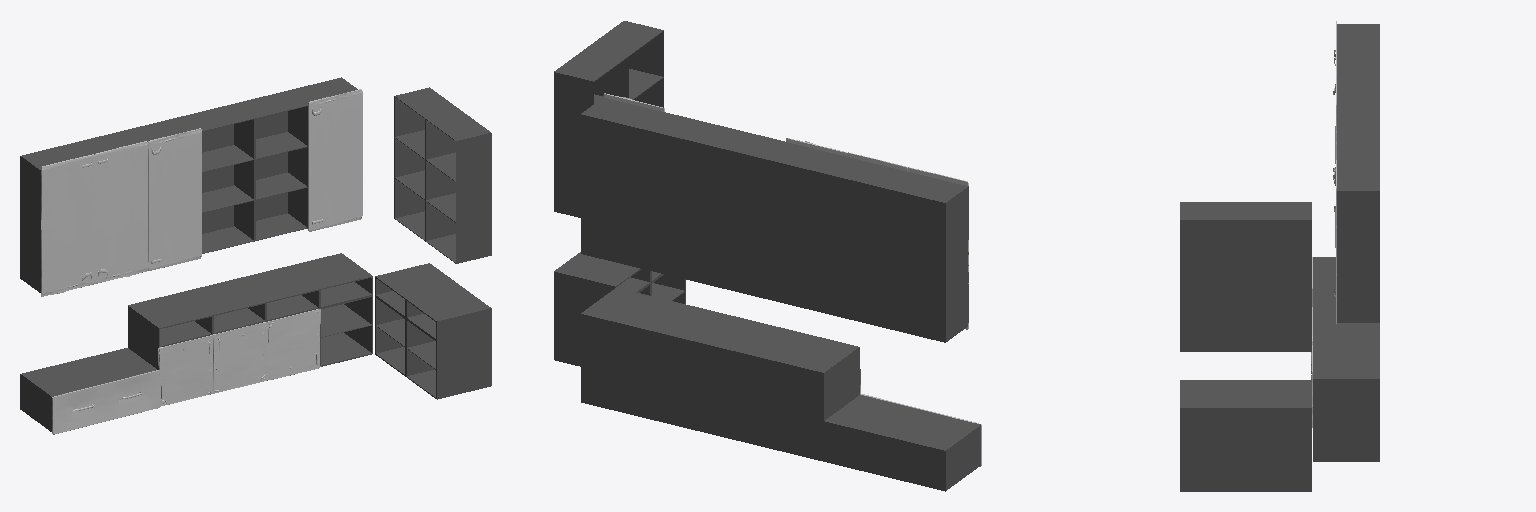
--- Facts derived from the render (not from the file) ---
The picture shows the robot from 3 angles, left to right: view 1: azimuth 30°, elevation 25°; view 2: azimuth 150°, elevation 25°; view 3: azimuth 270°, elevation 25°; orthographic projection.
Model Scene with 64 links and 63 joints (14 revolute, 7 prismatic, 42 fixed), rooted at world, posed every joint at zero.
Visible links, largest first — view 1: upper_left_cabinet_1.003_0.958_0.65_3_corpus, upper_right_cabinet_1.003_0.958_0.65_0_corpus, upper_left_cabinet_1.003_0.958_0.65_1_corpus, upper_left_cabinet_1.003_0.958_0.65_0_door_0_0, upper_right_cabinet_1.003_0.958_0.65_2_door_0_0, upper_right_cabinet_1.003_0.958_0.65_1_door_0_0, upper_left_cabinet_1.003_0.958_0.65_2_door_0_0, lower_left_cabinet_1.003_0.958_0.998_2_corpus, upper_right_cabinet_1.003_0.958_0.65_3_corpus, double_drawer_0.611_1.916_0.998_corpus, double_drawer_0.611_1.916_0.998_drawer_0_0, upper_right_cabinet_1.003_0.958_0.65_2_corpus (+15 smaller); view 2: upper_right_cabinet_1.003_0.958_0.65_2_corpus, double_drawer_0.611_1.916_0.998_corpus, upper_left_cabinet_1.003_0.958_0.65_1_corpus, upper_right_cabinet_1.003_0.958_0.65_0_corpus, upper_left_cabinet_1.003_0.958_0.65_2_corpus, upper_right_cabinet_1.003_0.958_0.65_1_corpus, upper_left_cabinet_1.003_0.958_0.65_0_corpus, upper_right_cabinet_1.003_0.958_0.65_3_corpus, lower_right_cabinet_1.003_0.958_0.998_0_corpus, drawer_0.333_0.958_0.998_0_corpus, lower_right_cabinet_1.003_0.958_0.998_1_corpus, lower_left_cabinet_1.003_0.958_0.998_0_corpus (+8 smaller); view 3: upper_left_cabinet_1.003_0.958_0.65_3_corpus, upper_right_cabinet_1.003_0.958_0.65_3_corpus, upper_left_cabinet_1.003_0.958_0.65_0_corpus, lower_left_cabinet_1.003_0.958_0.998_2_corpus, lower_right_cabinet_1.003_0.958_0.998_2_corpus, lower_left_cabinet_1.003_0.958_0.998_1_corpus, drawer_0.333_0.958_0.998_3_corpus, drawer_0.333_0.958_0.998_4_corpus, drawer_0.333_0.958_0.998_5_corpus, drawer_0.333_0.958_0.998_2_corpus, upper_left_cabinet_1.003_0.958_0.65_1_corpus, upper_right_cabinet_1.003_0.958_0.65_1_corpus (+5 smaller).
Link boxes in pixels (left/top/right/bottom): upper_left_cabinet_1.003_0.958_0.65_3_corpus: left=425, top=110, right=491, bottom=263; upper_right_cabinet_1.003_0.958_0.65_0_corpus: left=235, top=91, right=307, bottom=240; upper_left_cabinet_1.003_0.958_0.65_1_corpus: left=181, top=104, right=254, bottom=253; upper_left_cabinet_1.003_0.958_0.65_0_door_0_0: left=308, top=89, right=362, bottom=231; upper_right_cabinet_1.003_0.958_0.65_2_door_0_0: left=41, top=154, right=94, bottom=296; upper_right_cabinet_1.003_0.958_0.65_1_door_0_0: left=148, top=128, right=201, bottom=270; upper_left_cabinet_1.003_0.958_0.65_2_door_0_0: left=94, top=141, right=148, bottom=283; lower_left_cabinet_1.003_0.958_0.998_2_corpus: left=406, top=319, right=491, bottom=399; upper_right_cabinet_1.003_0.958_0.65_3_corpus: left=394, top=87, right=459, bottom=240; double_drawer_0.611_1.916_0.998_corpus: left=20, top=348, right=156, bottom=431; double_drawer_0.611_1.916_0.998_drawer_0_0: left=32, top=370, right=159, bottom=434; upper_right_cabinet_1.003_0.958_0.65_2_corpus: left=20, top=143, right=89, bottom=292; upper_right_cabinet_1.003_0.958_0.65_2_corpus: left=885, top=172, right=968, bottom=342; double_drawer_0.611_1.916_0.998_corpus: left=824, top=395, right=980, bottom=491; upper_left_cabinet_1.003_0.958_0.65_1_corpus: left=702, top=127, right=784, bottom=297; upper_right_cabinet_1.003_0.958_0.65_0_corpus: left=641, top=112, right=724, bottom=282; upper_left_cabinet_1.003_0.958_0.65_2_corpus: left=824, top=157, right=906, bottom=327; upper_right_cabinet_1.003_0.958_0.65_1_corpus: left=763, top=142, right=845, bottom=312; upper_left_cabinet_1.003_0.958_0.65_0_corpus: left=581, top=97, right=663, bottom=268; upper_right_cabinet_1.003_0.958_0.65_3_corpus: left=554, top=46, right=628, bottom=217; lower_right_cabinet_1.003_0.958_0.998_0_corpus: left=763, top=369, right=859, bottom=461; drawer_0.333_0.958_0.998_0_corpus: left=763, top=332, right=859, bottom=394; lower_right_cabinet_1.003_0.958_0.998_1_corpus: left=641, top=351, right=701, bottom=431; lower_left_cabinet_1.003_0.958_0.998_0_corpus: left=702, top=366, right=762, bottom=446; upper_left_cabinet_1.003_0.958_0.65_3_corpus: left=1180, top=202, right=1245, bottom=351; upper_right_cabinet_1.003_0.958_0.65_3_corpus: left=1246, top=202, right=1311, bottom=351; upper_left_cabinet_1.003_0.958_0.65_0_corpus: left=1337, top=163, right=1379, bottom=322; lower_left_cabinet_1.003_0.958_0.998_2_corpus: left=1180, top=429, right=1245, bottom=491; lower_right_cabinet_1.003_0.958_0.998_2_corpus: left=1246, top=429, right=1311, bottom=491; lower_left_cabinet_1.003_0.958_0.998_1_corpus: left=1313, top=400, right=1379, bottom=461; drawer_0.333_0.958_0.998_3_corpus: left=1313, top=351, right=1379, bottom=399; drawer_0.333_0.958_0.998_4_corpus: left=1246, top=380, right=1311, bottom=428; drawer_0.333_0.958_0.998_5_corpus: left=1180, top=380, right=1245, bottom=428; drawer_0.333_0.958_0.998_2_corpus: left=1313, top=323, right=1379, bottom=350; upper_left_cabinet_1.003_0.958_0.65_1_corpus: left=1337, top=108, right=1379, bottom=135; upper_right_cabinet_1.003_0.958_0.65_1_corpus: left=1337, top=80, right=1379, bottom=107.
Bounding box of the posed robot: 6.75 × 2.91 × 4.53 m (x, y, z).
Meshes: 21 distinct files referenced, 8 mesh visuals loaded (8 OBJ); not drawn: 13 (reference not matched to a file when rendering).

robot.urdf — Scene:
<?xml version='1.0' encoding='ASCII'?>
<robot name="Scene">
  <link name="drawer_0.333_0.958_0.998_0_corpus">
    <inertial>
      <origin xyz="0.0 0.0 0.0" rpy="0.0 -0.0 0.0" />
      <mass value="0.054318599999999995" />
      <inertia ixx="1.0" ixy="0.0" ixz="0.0" iyy="1.0" iyz="0.0" izz="1.0" />
    </inertial>
    <visual name="drawer_0.333_0.958_0.998_0_back">
      <geometry>
        <box size="0.958 0.02 0.313" />
      </geometry>
      <origin xyz="0.0 0.489 0.1565" rpy="0.0 -0.0 0.0" />
      <material name="drawer_0.333_0.958_0.998_0_back_main_color">
        <color rgba="0.4 0.4 0.4 1.0" />
      </material>
    </visual>
    <visual name="drawer_0.333_0.958_0.998_0_left">
      <geometry>
        <box size="0.02 0.958 0.313" />
      </geometry>
      <origin xyz="-0.469 0.0 0.1565" rpy="0.0 -0.0 0.0" />
      <material name="drawer_0.333_0.958_0.998_0_left_main_color">
        <color rgba="0.4 0.4 0.4 1.0" />
      </material>
    </visual>
    <visual name="drawer_0.333_0.958_0.998_0_right">
      <geometry>
        <box size="0.02 0.958 0.313" />
      </geometry>
      <origin xyz="0.469 0.0 0.1565" rpy="0.0 -0.0 0.0" />
      <material name="drawer_0.333_0.958_0.998_0_right_main_color">
        <color rgba="0.4 0.4 0.4 1.0" />
      </material>
    </visual>
    <visual name="drawer_0.333_0.958_0.998_0_surface_0_0">
      <geometry>
        <box size="0.9179999999999999 0.958 0.02" />
      </geometry>
      <origin xyz="0.0 0.0 0.009999999999999962" rpy="0.0 -0.0 0.0" />
      <material name="drawer_0.333_0.958_0.998_0_surface_0_0_main_color">
        <color rgba="0.4 0.4 0.4 1.0" />
      </material>
    </visual>
    <visual name="drawer_0.333_0.958_0.998_0_top">
      <geometry>
        <box size="0.958 0.978 0.02" />
      </geometry>
      <origin xyz="0.0 0.01 0.323" rpy="0.0 -0.0 0.0" />
      <material name="drawer_0.333_0.958_0.998_0_top_main_color">
        <color rgba="0.4 0.4 0.4 1.0" />
      </material>
    </visual>
    <collision name="drawer_0.333_0.958_0.998_0_back">
      <geometry>
        <box size="0.958 0.02 0.313" />
      </geometry>
      <origin xyz="0.0 0.489 0.1565" rpy="0.0 -0.0 0.0" />
    </collision>
    <collision name="drawer_0.333_0.958_0.998_0_left">
      <geometry>
        <box size="0.02 0.958 0.313" />
      </geometry>
      <origin xyz="-0.469 0.0 0.1565" rpy="0.0 -0.0 0.0" />
    </collision>
    <collision name="drawer_0.333_0.958_0.998_0_right">
      <geometry>
        <box size="0.02 0.958 0.313" />
      </geometry>
      <origin xyz="0.469 0.0 0.1565" rpy="0.0 -0.0 0.0" />
    </collision>
    <collision name="drawer_0.333_0.958_0.998_0_surface_0_0">
      <geometry>
        <box size="0.9179999999999999 0.958 0.02" />
      </geometry>
      <origin xyz="0.0 0.0 0.009999999999999962" rpy="0.0 -0.0 0.0" />
    </collision>
    <collision name="drawer_0.333_0.958_0.998_0_top">
      <geometry>
        <box size="0.958 0.978 0.02" />
      </geometry>
      <origin xyz="0.0 0.01 0.323" rpy="0.0 -0.0 0.0" />
    </collision>
  </link>
  <link name="drawer_0.333_0.958_0.998_0_drawer_0_0">
    <inertial>
      <origin xyz="0.0 0.0 0.0" rpy="0.0 -0.0 0.0" />
      <mass value="0.1" />
      <inertia ixx="1.0" ixy="0.0" ixz="0.0" iyy="1.0" iyz="0.0" izz="1.0" />
    </inertial>
    <visual><geometry><mesh filename="full_pipeline_simple/drawer_0.333_0.958_0.998_0.obj" /></geometry><material name="drawer_0.333_0.958_0.998_0_drawer_0_0_material"><color rgba="0.8 0.8 0.8 1.0" /></material></visual><collision><geometry><box size="0.954000 0.990300 0.329000" /></geometry><origin xyz="0.000000 0.365050 0.000000" rpy="0 0 0" /></collision></link>
  <link name="drawer_0.333_0.958_0.998_1_corpus">
    <inertial>
      <origin xyz="0.0 0.0 0.0" rpy="0.0 -0.0 0.0" />
      <mass value="0.054318599999999995" />
      <inertia ixx="1.0" ixy="0.0" ixz="0.0" iyy="1.0" iyz="0.0" izz="1.0" />
    </inertial>
    <visual name="drawer_0.333_0.958_0.998_1_back">
      <geometry>
        <box size="0.958 0.02 0.313" />
      </geometry>
      <origin xyz="0.0 0.489 0.1565" rpy="0.0 -0.0 0.0" />
      <material name="drawer_0.333_0.958_0.998_1_back_main_color">
        <color rgba="0.4 0.4 0.4 1.0" />
      </material>
    </visual>
    <visual name="drawer_0.333_0.958_0.998_1_left">
      <geometry>
        <box size="0.02 0.958 0.313" />
      </geometry>
      <origin xyz="-0.469 0.0 0.1565" rpy="0.0 -0.0 0.0" />
      <material name="drawer_0.333_0.958_0.998_1_left_main_color">
        <color rgba="0.4 0.4 0.4 1.0" />
      </material>
    </visual>
    <visual name="drawer_0.333_0.958_0.998_1_right">
      <geometry>
        <box size="0.02 0.958 0.313" />
      </geometry>
      <origin xyz="0.469 0.0 0.1565" rpy="0.0 -0.0 0.0" />
      <material name="drawer_0.333_0.958_0.998_1_right_main_color">
        <color rgba="0.4 0.4 0.4 1.0" />
      </material>
    </visual>
    <visual name="drawer_0.333_0.958_0.998_1_surface_0_0">
      <geometry>
        <box size="0.9179999999999999 0.958 0.02" />
      </geometry>
      <origin xyz="0.0 0.0 0.009999999999999962" rpy="0.0 -0.0 0.0" />
      <material name="drawer_0.333_0.958_0.998_1_surface_0_0_main_color">
        <color rgba="0.4 0.4 0.4 1.0" />
      </material>
    </visual>
    <visual name="drawer_0.333_0.958_0.998_1_top">
      <geometry>
        <box size="0.958 0.978 0.02" />
      </geometry>
      <origin xyz="0.0 0.01 0.323" rpy="0.0 -0.0 0.0" />
      <material name="drawer_0.333_0.958_0.998_1_top_main_color">
        <color rgba="0.4 0.4 0.4 1.0" />
      </material>
    </visual>
    <collision name="drawer_0.333_0.958_0.998_1_back">
      <geometry>
        <box size="0.958 0.02 0.313" />
      </geometry>
      <origin xyz="0.0 0.489 0.1565" rpy="0.0 -0.0 0.0" />
    </collision>
    <collision name="drawer_0.333_0.958_0.998_1_left">
      <geometry>
        <box size="0.02 0.958 0.313" />
      </geometry>
      <origin xyz="-0.469 0.0 0.1565" rpy="0.0 -0.0 0.0" />
    </collision>
    <collision name="drawer_0.333_0.958_0.998_1_right">
      <geometry>
        <box size="0.02 0.958 0.313" />
      </geometry>
      <origin xyz="0.469 0.0 0.1565" rpy="0.0 -0.0 0.0" />
    </collision>
    <collision name="drawer_0.333_0.958_0.998_1_surface_0_0">
      <geometry>
        <box size="0.9179999999999999 0.958 0.02" />
      </geometry>
      <origin xyz="0.0 0.0 0.009999999999999962" rpy="0.0 -0.0 0.0" />
    </collision>
    <collision name="drawer_0.333_0.958_0.998_1_top">
      <geometry>
        <box size="0.958 0.978 0.02" />
      </geometry>
      <origin xyz="0.0 0.01 0.323" rpy="0.0 -0.0 0.0" />
    </collision>
  </link>
  <link name="drawer_0.333_0.958_0.998_1_drawer_0_0">
    <inertial>
      <origin xyz="0.0 0.0 0.0" rpy="0.0 -0.0 0.0" />
      <mass value="0.1" />
      <inertia ixx="1.0" ixy="0.0" ixz="0.0" iyy="1.0" iyz="0.0" izz="1.0" />
    </inertial>
    <visual><geometry><mesh filename="full_pipeline_simple/drawer_0.333_0.958_0.998_1.obj" /></geometry><material name="drawer_0.333_0.958_0.998_1_drawer_0_0_material"><color rgba="0.8 0.8 0.8 1.0" /></material></visual><collision><geometry><box size="0.954000 0.990300 0.329000" /></geometry><origin xyz="0.000000 0.365050 0.000000" rpy="0 0 0" /></collision></link>
  <link name="lower_left_cabinet_1.003_0.958_0.998_0_corpus">
    <inertial>
      <origin xyz="0.0 0.0 0.0" rpy="0.0 -0.0 0.0" />
      <mass value="0.10162463999999999" />
      <inertia ixx="1.0" ixy="0.0" ixz="0.0" iyy="1.0" iyz="0.0" izz="1.0" />
    </inertial>
    <visual name="lower_left_cabinet_1.003_0.958_0.998_0_back">
      <geometry>
        <box size="0.958 0.02 0.9829999999999999" />
      </geometry>
      <origin xyz="0.0 0.489 0.49149999999999994" rpy="0.0 -0.0 0.0" />
      <material name="lower_left_cabinet_1.003_0.958_0.998_0_back_main_color">
        <color rgba="0.4 0.4 0.4 1.0" />
      </material>
    </visual>
    <visual name="lower_left_cabinet_1.003_0.958_0.998_0_left">
      <geometry>
        <box size="0.02 0.958 0.9829999999999999" />
      </geometry>
      <origin xyz="-0.469 0.0 0.49149999999999994" rpy="0.0 -0.0 0.0" />
      <material name="lower_left_cabinet_1.003_0.958_0.998_0_left_main_color">
        <color rgba="0.4 0.4 0.4 1.0" />
      </material>
    </visual>
    <visual name="lower_left_cabinet_1.003_0.958_0.998_0_right">
      <geometry>
        <box size="0.02 0.958 0.9829999999999999" />
      </geometry>
      <origin xyz="0.469 0.0 0.49149999999999994" rpy="0.0 -0.0 0.0" />
      <material name="lower_left_cabinet_1.003_0.958_0.998_0_right_main_color">
        <color rgba="0.4 0.4 0.4 1.0" />
      </material>
    </visual>
    <visual name="lower_left_cabinet_1.003_0.958_0.998_0_shelf_0_0_0">
      <geometry>
        <box size="0.9179999999999999 0.958 0.01" />
      </geometry>
      <origin xyz="0.0 0.0 0.5015" rpy="0.0 -0.0 0.0" />
      <material name="lower_left_cabinet_1.003_0.958_0.998_0_shelf_0_0_0_main_color">
        <color rgba="0.4 0.4 0.4 1.0" />
      </material>
    </visual>
    <visual name="lower_left_cabinet_1.003_0.958_0.998_0_surface_0_0">
      <geometry>
        <box size="0.9179999999999999 0.958 0.02" />
      </geometry>
      <origin xyz="0.0 0.0 0.010000000000000018" rpy="0.0 -0.0 0.0" />
      <material name="lower_left_cabinet_1.003_0.958_0.998_0_surface_0_0_main_color">
        <color rgba="0.4 0.4 0.4 1.0" />
      </material>
    </visual>
    <visual name="lower_left_cabinet_1.003_0.958_0.998_0_top">
      <geometry>
        <box size="0.958 0.978 0.02" />
      </geometry>
      <origin xyz="0.0 0.01 0.9929999999999999" rpy="0.0 -0.0 0.0" />
      <material name="lower_left_cabinet_1.003_0.958_0.998_0_top_main_color">
        <color rgba="0.4 0.4 0.4 1.0" />
      </material>
    </visual>
    <collision name="lower_left_cabinet_1.003_0.958_0.998_0_back">
      <geometry>
        <box size="0.958 0.02 0.9829999999999999" />
      </geometry>
      <origin xyz="0.0 0.489 0.49149999999999994" rpy="0.0 -0.0 0.0" />
    </collision>
    <collision name="lower_left_cabinet_1.003_0.958_0.998_0_left">
      <geometry>
        <box size="0.02 0.958 0.9829999999999999" />
      </geometry>
      <origin xyz="-0.469 0.0 0.49149999999999994" rpy="0.0 -0.0 0.0" />
    </collision>
    <collision name="lower_left_cabinet_1.003_0.958_0.998_0_right">
      <geometry>
        <box size="0.02 0.958 0.9829999999999999" />
      </geometry>
      <origin xyz="0.469 0.0 0.49149999999999994" rpy="0.0 -0.0 0.0" />
    </collision>
    <collision name="lower_left_cabinet_1.003_0.958_0.998_0_shelf_0_0_0">
      <geometry>
        <box size="0.9179999999999999 0.958 0.01" />
      </geometry>
      <origin xyz="0.0 0.0 0.5015" rpy="0.0 -0.0 0.0" />
    </collision>
    <collision name="lower_left_cabinet_1.003_0.958_0.998_0_surface_0_0">
      <geometry>
        <box size="0.9179999999999999 0.958 0.02" />
      </geometry>
      <origin xyz="0.0 0.0 0.010000000000000018" rpy="0.0 -0.0 0.0" />
    </collision>
    <collision name="lower_left_cabinet_1.003_0.958_0.998_0_top">
      <geometry>
        <box size="0.958 0.978 0.02" />
      </geometry>
      <origin xyz="0.0 0.01 0.9929999999999999" rpy="0.0 -0.0 0.0" />
    </collision>
  </link>
  <link name="lower_left_cabinet_1.003_0.958_0.998_0_door_0_0">
    <inertial>
      <origin xyz="0.0 0.0 0.0" rpy="0.0 -0.0 0.0" />
      <mass value="0.1" />
      <inertia ixx="1.0" ixy="0.0" ixz="0.0" iyy="1.0" iyz="0.0" izz="1.0" />
    </inertial>
    <visual><geometry><mesh filename="full_pipeline_simple/lower_left_cabinet_1.003_0.958_0.998_0.obj" /></geometry><material name="lower_left_cabinet_1.003_0.958_0.998_0_door_0_0_material"><color rgba="0.8 0.8 0.8 1.0" /></material></visual><collision><geometry><box size="0.954000 0.168200 0.999000" /></geometry><origin xyz="-0.477000 -0.026000 0.000000" rpy="0 0 0" /></collision></link>
  <link name="lower_right_cabinet_1.003_0.958_0.998_0_corpus">
    <inertial>
      <origin xyz="0.0 0.0 0.0" rpy="0.0 -0.0 0.0" />
      <mass value="0.10162463999999999" />
      <inertia ixx="1.0" ixy="0.0" ixz="0.0" iyy="1.0" iyz="0.0" izz="1.0" />
    </inertial>
    <visual name="lower_right_cabinet_1.003_0.958_0.998_0_back">
      <geometry>
        <box size="0.958 0.02 0.9829999999999999" />
      </geometry>
      <origin xyz="0.0 0.489 0.49149999999999994" rpy="0.0 -0.0 0.0" />
      <material name="lower_right_cabinet_1.003_0.958_0.998_0_back_main_color">
        <color rgba="0.4 0.4 0.4 1.0" />
      </material>
    </visual>
    <visual name="lower_right_cabinet_1.003_0.958_0.998_0_left">
      <geometry>
        <box size="0.02 0.958 0.9829999999999999" />
      </geometry>
      <origin xyz="-0.469 0.0 0.49149999999999994" rpy="0.0 -0.0 0.0" />
      <material name="lower_right_cabinet_1.003_0.958_0.998_0_left_main_color">
        <color rgba="0.4 0.4 0.4 1.0" />
      </material>
    </visual>
    <visual name="lower_right_cabinet_1.003_0.958_0.998_0_right">
      <geometry>
        <box size="0.02 0.958 0.9829999999999999" />
      </geometry>
      <origin xyz="0.469 0.0 0.49149999999999994" rpy="0.0 -0.0 0.0" />
      <material name="lower_right_cabinet_1.003_0.958_0.998_0_right_main_color">
        <color rgba="0.4 0.4 0.4 1.0" />
      </material>
    </visual>
    <visual name="lower_right_cabinet_1.003_0.958_0.998_0_shelf_0_0_0">
      <geometry>
        <box size="0.9179999999999999 0.958 0.01" />
      </geometry>
      <origin xyz="0.0 0.0 0.5015" rpy="0.0 -0.0 0.0" />
      <material name="lower_right_cabinet_1.003_0.958_0.998_0_shelf_0_0_0_main_color">
        <color rgba="0.4 0.4 0.4 1.0" />
      </material>
    </visual>
    <visual name="lower_right_cabinet_1.003_0.958_0.998_0_surface_0_0">
      <geometry>
        <box size="0.9179999999999999 0.958 0.02" />
      </geometry>
      <origin xyz="0.0 0.0 0.010000000000000018" rpy="0.0 -0.0 0.0" />
      <material name="lower_right_cabinet_1.003_0.958_0.998_0_surface_0_0_main_color">
        <color rgba="0.4 0.4 0.4 1.0" />
      </material>
    </visual>
    <visual name="lower_right_cabinet_1.003_0.958_0.998_0_top">
      <geometry>
        <box size="0.958 0.978 0.02" />
      </geometry>
      <origin xyz="0.0 0.01 0.9929999999999999" rpy="0.0 -0.0 0.0" />
      <material name="lower_right_cabinet_1.003_0.958_0.998_0_top_main_color">
        <color rgba="0.4 0.4 0.4 1.0" />
      </material>
    </visual>
    <collision name="lower_right_cabinet_1.003_0.958_0.998_0_back">
      <geometry>
        <box size="0.958 0.02 0.9829999999999999" />
      </geometry>
      <origin xyz="0.0 0.489 0.49149999999999994" rpy="0.0 -0.0 0.0" />
    </collision>
    <collision name="lower_right_cabinet_1.003_0.958_0.998_0_left">
      <geometry>
        <box size="0.02 0.958 0.9829999999999999" />
      </geometry>
      <origin xyz="-0.469 0.0 0.49149999999999994" rpy="0.0 -0.0 0.0" />
    </collision>
    <collision name="lower_right_cabinet_1.003_0.958_0.998_0_right">
      <geometry>
        <box size="0.02 0.958 0.9829999999999999" />
      </geometry>
      <origin xyz="0.469 0.0 0.49149999999999994" rpy="0.0 -0.0 0.0" />
    </collision>
    <collision name="lower_right_cabinet_1.003_0.958_0.998_0_shelf_0_0_0">
      <geometry>
        <box size="0.9179999999999999 0.958 0.01" />
      </geometry>
      <origin xyz="0.0 0.0 0.5015" rpy="0.0 -0.0 0.0" />
    </collision>
    <collision name="lower_right_cabinet_1.003_0.958_0.998_0_surface_0_0">
      <geometry>
        <box size="0.9179999999999999 0.958 0.02" />
      </geometry>
      <origin xyz="0.0 0.0 0.010000000000000018" rpy="0.0 -0.0 0.0" />
    </collision>
    <collision name="lower_right_cabinet_1.003_0.958_0.998_0_top">
      <geometry>
        <box size="0.958 0.978 0.02" />
      </geometry>
      <origin xyz="0.0 0.01 0.9929999999999999" rpy="0.0 -0.0 0.0" />
    </collision>
  </link>
  <link name="lower_right_cabinet_1.003_0.958_0.998_0_door_0_0">
    <inertial>
      <origin xyz="0.0 0.0 0.0" rpy="0.0 -0.0 0.0" />
      <mass value="0.1" />
      <inertia ixx="1.0" ixy="0.0" ixz="0.0" iyy="1.0" iyz="0.0" izz="1.0" />
    </inertial>
    <visual><geometry><mesh filename="full_pipeline_simple/lower_right_cabinet_1.003_0.958_0.998_0.obj" /></geometry><material name="lower_right_cabinet_1.003_0.958_0.998_0_door_0_0_material"><color rgba="0.8 0.8 0.8 1.0" /></material></visual><collision><geometry><box size="0.954000 0.168200 0.999000" /></geometry><origin xyz="0.477000 -0.026000 0.000000" rpy="0 0 0" /></collision></link>
  <link name="drawer_0.333_0.958_0.998_2_corpus">
    <inertial>
      <origin xyz="0.0 0.0 0.0" rpy="0.0 -0.0 0.0" />
      <mass value="0.054318599999999995" />
      <inertia ixx="1.0" ixy="0.0" ixz="0.0" iyy="1.0" iyz="0.0" izz="1.0" />
    </inertial>
    <visual name="drawer_0.333_0.958_0.998_2_back">
      <geometry>
        <box size="0.958 0.02 0.313" />
      </geometry>
      <origin xyz="0.0 0.489 0.1565" rpy="0.0 -0.0 0.0" />
      <material name="drawer_0.333_0.958_0.998_2_back_main_color">
        <color rgba="0.4 0.4 0.4 1.0" />
      </material>
    </visual>
    <visual name="drawer_0.333_0.958_0.998_2_left">
      <geometry>
        <box size="0.02 0.958 0.313" />
      </geometry>
      <origin xyz="-0.469 0.0 0.1565" rpy="0.0 -0.0 0.0" />
      <material name="drawer_0.333_0.958_0.998_2_left_main_color">
        <color rgba="0.4 0.4 0.4 1.0" />
      </material>
    </visual>
    <visual name="drawer_0.333_0.958_0.998_2_right">
      <geometry>
        <box size="0.02 0.958 0.313" />
      </geometry>
      <origin xyz="0.469 0.0 0.1565" rpy="0.0 -0.0 0.0" />
      <material name="drawer_0.333_0.958_0.998_2_right_main_color">
        <color rgba="0.4 0.4 0.4 1.0" />
      </material>
    </visual>
    <visual name="drawer_0.333_0.958_0.998_2_surface_0_0">
      <geometry>
        <box size="0.9179999999999999 0.958 0.02" />
      </geometry>
      <origin xyz="0.0 0.0 0.009999999999999962" rpy="0.0 -0.0 0.0" />
      <material name="drawer_0.333_0.958_0.998_2_surface_0_0_main_color">
        <color rgba="0.4 0.4 0.4 1.0" />
      </material>
    </visual>
    <visual name="drawer_0.333_0.958_0.998_2_top">
      <geometry>
        <box size="0.958 0.978 0.02" />
      </geometry>
      <origin xyz="0.0 0.01 0.323" rpy="0.0 -0.0 0.0" />
      <material name="drawer_0.333_0.958_0.998_2_top_main_color">
        <color rgba="0.4 0.4 0.4 1.0" />
      </material>
    </visual>
    <collision name="drawer_0.333_0.958_0.998_2_back">
      <geometry>
        <box size="0.958 0.02 0.313" />
      </geometry>
      <origin xyz="0.0 0.489 0.1565" rpy="0.0 -0.0 0.0" />
    </collision>
    <collision name="drawer_0.333_0.958_0.998_2_left">
      <geometry>
        <box size="0.02 0.958 0.313" />
      </geometry>
      <origin xyz="-0.469 0.0 0.1565" rpy="0.0 -0.0 0.0" />
    </collision>
    <collision name="drawer_0.333_0.958_0.998_2_right">
      <geometry>
        <box size="0.02 0.958 0.313" />
      </geometry>
      <origin xyz="0.469 0.0 0.1565" rpy="0.0 -0.0 0.0" />
    </collision>
    <collision name="drawer_0.333_0.958_0.998_2_surface_0_0">
      <geometry>
        <box size="0.9179999999999999 0.958 0.02" />
      </geometry>
      <origin xyz="0.0 0.0 0.009999999999999962" rpy="0.0 -0.0 0.0" />
    </collision>
    <collision name="drawer_0.333_0.958_0.998_2_top">
      <geometry>
        <box size="0.958 0.978 0.02" />
      </geometry>
      <origin xyz="0.0 0.01 0.323" rpy="0.0 -0.0 0.0" />
    </collision>
  </link>
  <link name="drawer_0.333_0.958_0.998_2_drawer_0_0">
    <inertial>
      <origin xyz="0.0 0.0 0.0" rpy="0.0 -0.0 0.0" />
      <mass value="0.1" />
      <inertia ixx="1.0" ixy="0.0" ixz="0.0" iyy="1.0" iyz="0.0" izz="1.0" />
    </inertial>
    <visual><geometry><mesh filename="full_pipeline_simple/drawer_0.333_0.958_0.998_2.obj" /></geometry><material name="drawer_0.333_0.958_0.998_2_drawer_0_0_material"><color rgba="0.8 0.8 0.8 1.0" /></material></visual><collision><geometry><box size="0.954000 0.990300 0.329000" /></geometry><origin xyz="0.000000 0.365050 0.000000" rpy="0 0 0" /></collision></link>
  <link name="drawer_0.333_0.958_0.998_3_corpus">
    <inertial>
      <origin xyz="0.0 0.0 0.0" rpy="0.0 -0.0 0.0" />
      <mass value="0.054318599999999995" />
      <inertia ixx="1.0" ixy="0.0" ixz="0.0" iyy="1.0" iyz="0.0" izz="1.0" />
    </inertial>
    <visual name="drawer_0.333_0.958_0.998_3_back">
      <geometry>
        <box size="0.958 0.02 0.313" />
      </geometry>
      <origin xyz="0.0 0.489 0.1565" rpy="0.0 -0.0 0.0" />
      <material name="drawer_0.333_0.958_0.998_3_back_main_color">
        <color rgba="0.4 0.4 0.4 1.0" />
      </material>
    </visual>
    <visual name="drawer_0.333_0.958_0.998_3_left">
      <geometry>
        <box size="0.02 0.958 0.313" />
      </geometry>
      <origin xyz="-0.469 0.0 0.1565" rpy="0.0 -0.0 0.0" />
      <material name="drawer_0.333_0.958_0.998_3_left_main_color">
        <color rgba="0.4 0.4 0.4 1.0" />
      </material>
    </visual>
    <visual name="drawer_0.333_0.958_0.998_3_right">
      <geometry>
        <box size="0.02 0.958 0.313" />
      </geometry>
      <origin xyz="0.469 0.0 0.1565" rpy="0.0 -0.0 0.0" />
      <material name="drawer_0.333_0.958_0.998_3_right_main_color">
        <color rgba="0.4 0.4 0.4 1.0" />
      </material>
    </visual>
    <visual name="drawer_0.333_0.958_0.998_3_surface_0_0">
      <geometry>
        <box size="0.9179999999999999 0.958 0.02" />
      </geometry>
      <origin xyz="0.0 0.0 0.009999999999999962" rpy="0.0 -0.0 0.0" />
      <material name="drawer_0.333_0.958_0.998_3_surface_0_0_main_color">
        <color rgba="0.4 0.4 0.4 1.0" />
      </material>
    </visual>
    <visual name="drawer_0.333_0.958_0.998_3_top">
      <geometry>
        <box size="0.958 0.978 0.02" />
      </geometry>
      <origin xyz="0.0 0.01 0.323" rpy="0.0 -0.0 0.0" />
      <material name="drawer_0.333_0.958_0.998_3_top_main_color">
        <color rgba="0.4 0.4 0.4 1.0" />
      </material>
    </visual>
    <collision name="drawer_0.333_0.958_0.998_3_back">
      <geometry>
        <box size="0.958 0.02 0.313" />
      </geometry>
      <origin xyz="0.0 0.489 0.1565" rpy="0.0 -0.0 0.0" />
    </collision>
    <collision name="drawer_0.333_0.958_0.998_3_left">
      <geometry>
        <box size="0.02 0.958 0.313" />
      </geometry>
      <origin xyz="-0.469 0.0 0.1565" rpy="0.0 -0.0 0.0" />
    </collision>
    <collision name="drawer_0.333_0.958_0.998_3_right">
      <geometry>
        <box size="0.02 0.958 0.313" />
      </geometry>
      <origin xyz="0.469 0.0 0.1565" rpy="0.0 -0.0 0.0" />
    </collision>
    <collision name="drawer_0.333_0.958_0.998_3_surface_0_0">
      <geometry>
        <box size="0.9179999999999999 0.958 0.02" />
      </geometry>
      <origin xyz="0.0 0.0 0.009999999999999962" rpy="0.0 -0.0 0.0" />
    </collision>
    <collision name="drawer_0.333_0.958_0.998_3_top">
      <geometry>
        <box size="0.958 0.978 0.02" />
      </geometry>
      <origin xyz="0.0 0.01 0.323" rpy="0.0 -0.0 0.0" />
    </collision>
  </link>
  <link name="drawer_0.333_0.958_0.998_3_drawer_0_0">
    <inertial>
      <origin xyz="0.0 0.0 0.0" rpy="0.0 -0.0 0.0" />
      <mass value="0.1" />
      <inertia ixx="1.0" ixy="0.0" ixz="0.0" iyy="1.0" iyz="0.0" izz="1.0" />
    </inertial>
    <visual><geometry><mesh filename="full_pipeline_simple/drawer_0.333_0.958_0.998_3.obj" /></geometry><material name="drawer_0.333_0.958_0.998_3_drawer_0_0_material"><color rgba="0.8 0.8 0.8 1.0" /></material></visual><collision><geometry><box size="0.954000 0.990300 0.329000" /></geometry><origin xyz="0.000000 0.365050 0.000000" rpy="0 0 0" /></collision></link>
  <link name="lower_left_cabinet_1.003_0.958_0.998_1_corpus">
    <inertial>
      <origin xyz="0.0 0.0 0.0" rpy="0.0 -0.0 0.0" />
      <mass value="0.10162463999999999" />
      <inertia ixx="1.0" ixy="0.0" ixz="0.0" iyy="1.0" iyz="0.0" izz="1.0" />
    </inertial>
    <visual name="lower_left_cabinet_1.003_0.958_0.998_1_back">
      <geometry>
        <box size="0.958 0.02 0.9829999999999999" />
      </geometry>
      <origin xyz="0.0 0.489 0.49149999999999994" rpy="0.0 -0.0 0.0" />
      <material name="lower_left_cabinet_1.003_0.958_0.998_1_back_main_color">
        <color rgba="0.4 0.4 0.4 1.0" />
      </material>
    </visual>
    <visual name="lower_left_cabinet_1.003_0.958_0.998_1_left">
      <geometry>
        <box size="0.02 0.958 0.9829999999999999" />
      </geometry>
      <origin xyz="-0.469 0.0 0.49149999999999994" rpy="0.0 -0.0 0.0" />
      <material name="lower_left_cabinet_1.003_0.958_0.998_1_left_main_color">
        <color rgba="0.4 0.4 0.4 1.0" />
      </material>
    </visual>
    <visual name="lower_left_cabinet_1.003_0.958_0.998_1_right">
      <geometry>
        <box size="0.02 0.958 0.9829999999999999" />
      </geometry>
      <origin xyz="0.469 0.0 0.49149999999999994" rpy="0.0 -0.0 0.0" />
      <material name="lower_left_cabinet_1.003_0.958_0.998_1_right_main_color">
        <color rgba="0.4 0.4 0.4 1.0" />
      </material>
    </visual>
    <visual name="lower_left_cabinet_1.003_0.958_0.998_1_shelf_0_0_0">
      <geometry>
        <box size="0.9179999999999999 0.958 0.01" />
      </geometry>
      <origin xyz="0.0 0.0 0.5015" rpy="0.0 -0.0 0.0" />
      <material name="lower_left_cabinet_1.003_0.958_0.998_1_shelf_0_0_0_main_color">
        <color rgba="0.4 0.4 0.4 1.0" />
      </material>
    </visual>
    <visual name="lower_left_cabinet_1.003_0.958_0.998_1_surface_0_0">
      <geometry>
        <box size="0.9179999999999999 0.958 0.02" />
      </geometry>
      <origin xyz="0.0 0.0 0.010000000000000018" rpy="0.0 -0.0 0.0" />
      <material name="lower_left_cabinet_1.003_0.958_0.998_1_surface_0_0_main_color">
        <color rgba="0.4 0.4 0.4 1.0" />
      </material>
    </visual>
    <visual name="lower_left_cabinet_1.003_0.958_0.998_1_top">
      <geometry>
        <box size="0.958 0.978 0.02" />
      </geometry>
      <origin xyz="0.0 0.01 0.9929999999999999" rpy="0.0 -0.0 0.0" />
      <material name="lower_left_cabinet_1.003_0.958_0.998_1_top_main_color">
        <color rgba="0.4 0.4 0.4 1.0" />
      </material>
    </visual>
    <collision name="lower_left_cabinet_1.003_0.958_0.998_1_back">
      <geometry>
        <box size="0.958 0.02 0.9829999999999999" />
      </geometry>
      <origin xyz="0.0 0.489 0.49149999999999994" rpy="0.0 -0.0 0.0" />
    </collision>
    <collision name="lower_left_cabinet_1.003_0.958_0.998_1_left">
      <geometry>
        <box size="0.02 0.958 0.9829999999999999" />
      </geometry>
      <origin xyz="-0.469 0.0 0.49149999999999994" rpy="0.0 -0.0 0.0" />
    </collision>
    <collision name="lower_left_cabinet_1.003_0.958_0.998_1_right">
      <geometry>
        <box size="0.02 0.958 0.9829999999999999" />
      </geometry>
      <origin xyz="0.469 0.0 0.49149999999999994" rpy="0.0 -0.0 0.0" />
    </collision>
    <collision name="lower_left_cabinet_1.003_0.958_0.998_1_shelf_0_0_0">
      <geometry>
        <box size="0.9179999999999999 0.958 0.01" />
      </geometry>
      <origin xyz="0.0 0.0 0.5015" rpy="0.0 -0.0 0.0" />
    </collision>
    <collision name="lower_left_cabinet_1.003_0.958_0.998_1_surface_0_0">
      <geometry>
        <box size="0.9179999999999999 0.958 0.02" />
      </geometry>
      <origin xyz="0.0 0.0 0.010000000000000018" rpy="0.0 -0.0 0.0" />
    </collision>
    <collision name="lower_left_cabinet_1.003_0.958_0.998_1_top">
      <geometry>
        <box size="0.958 0.978 0.02" />
      </geometry>
      <origin xyz="0.0 0.01 0.9929999999999999" rpy="0.0 -0.0 0.0" />
    </collision>
  </link>
  <link name="lower_left_cabinet_1.003_0.958_0.998_1_door_0_0">
    <inertial>
      <origin xyz="0.0 0.0 0.0" rpy="0.0 -0.0 0.0" />
      <mass value="0.1" />
      <inertia ixx="1.0" ixy="0.0" ixz="0.0" iyy="1.0" iyz="0.0" izz="1.0" />
    </inertial>
    <visual><geometry><mesh filename="full_pipeline_simple/lower_left_cabinet_1.003_0.958_0.998_1.obj" /></geometry><material name="lower_left_cabinet_1.003_0.958_0.998_1_door_0_0_material"><color rgba="0.8 0.8 0.8 1.0" /></material></visual><collision><geometry><box size="0.954000 0.168200 0.999000" /></geometry><origin xyz="-0.477000 -0.026000 0.000000" rpy="0 0 0" /></collision></link>
  <link name="lower_right_cabinet_1.003_0.958_0.998_1_corpus">
    <inertial>
      <origin xyz="0.0 0.0 0.0" rpy="0.0 -0.0 0.0" />
      <mass value="0.10162463999999999" />
      <inertia ixx="1.0" ixy="0.0" ixz="0.0" iyy="1.0" iyz="0.0" izz="1.0" />
    </inertial>
    <visual name="lower_right_cabinet_1.003_0.958_0.998_1_back">
      <geometry>
        <box size="0.958 0.02 0.9829999999999999" />
      </geometry>
      <origin xyz="0.0 0.489 0.49149999999999994" rpy="0.0 -0.0 0.0" />
      <material name="lower_right_cabinet_1.003_0.958_0.998_1_back_main_color">
        <color rgba="0.4 0.4 0.4 1.0" />
      </material>
    </visual>
    <visual name="lower_right_cabinet_1.003_0.958_0.998_1_left">
      <geometry>
        <box size="0.02 0.958 0.9829999999999999" />
      </geometry>
      <origin xyz="-0.469 0.0 0.49149999999999994" rpy="0.0 -0.0 0.0" />
      <material name="lower_right_cabinet_1.003_0.958_0.998_1_left_main_color">
        <color rgba="0.4 0.4 0.4 1.0" />
      </material>
    </visual>
    <visual name="lower_right_cabinet_1.003_0.958_0.998_1_right">
      <geometry>
        <box size="0.02 0.958 0.9829999999999999" />
      </geometry>
      <origin xyz="0.469 0.0 0.49149999999999994" rpy="0.0 -0.0 0.0" />
      <material name="lower_right_cabinet_1.003_0.958_0.998_1_right_main_color">
        <color rgba="0.4 0.4 0.4 1.0" />
      </material>
    </visual>
    <visual name="lower_right_cabinet_1.003_0.958_0.998_1_shelf_0_0_0">
      <geometry>
        <box size="0.9179999999999999 0.958 0.01" />
      </geometry>
      <origin xyz="0.0 0.0 0.5015" rpy="0.0 -0.0 0.0" />
      <material name="lower_right_cabinet_1.003_0.958_0.998_1_shelf_0_0_0_main_color">
        <color rgba="0.4 0.4 0.4 1.0" />
      </material>
    </visual>
    <visual name="lower_right_cabinet_1.003_0.958_0.998_1_surface_0_0">
      <geometry>
        <box size="0.9179999999999999 0.958 0.02" />
      </geometry>
      <origin xyz="0.0 0.0 0.010000000000000018" rpy="0.0 -0.0 0.0" />
      <material name="lower_right_cabinet_1.003_0.958_0.998_1_surface_0_0_main_color">
        <color rgba="0.4 0.4 0.4 1.0" />
      </material>
    </visual>
    <visual name="lower_right_cabinet_1.003_0.958_0.998_1_top">
      <geometry>
        <box size="0.958 0.978 0.02" />
      </geometry>
      <origin xyz="0.0 0.01 0.9929999999999999" rpy="0.0 -0.0 0.0" />
      <material name="lower_right_cabinet_1.003_0.958_0.998_1_top_main_color">
        <color rgba="0.4 0.4 0.4 1.0" />
      </material>
    </visual>
    <collision name="lower_right_cabinet_1.003_0.958_0.998_1_back">
      <geometry>
        <box size="0.958 0.02 0.9829999999999999" />
      </geometry>
      <origin xyz="0.0 0.489 0.49149999999999994" rpy="0.0 -0.0 0.0" />
    </collision>
    <collision name="lower_right_cabinet_1.003_0.958_0.998_1_left">
      <geometry>
        <box size="0.02 0.958 0.9829999999999999" />
      </geometry>
      <origin xyz="-0.469 0.0 0.49149999999999994" rpy="0.0 -0.0 0.0" />
    </collision>
    <collision name="lower_right_cabinet_1.003_0.958_0.998_1_right">
      <geometry>
        <box size="0.02 0.958 0.9829999999999999" />
      </geometry>
      <origin xyz="0.469 0.0 0.49149999999999994" rpy="0.0 -0.0 0.0" />
    </collision>
    <collision name="lower_right_cabinet_1.003_0.958_0.998_1_shelf_0_0_0">
      <geometry>
        <box size="0.9179999999999999 0.958 0.01" />
      </geometry>
      <origin xyz="0.0 0.0 0.5015" rpy="0.0 -0.0 0.0" />
    </collision>
    <collision name="lower_right_cabinet_1.003_0.958_0.998_1_surface_0_0">
      <geometry>
        <box size="0.9179999999999999 0.958 0.02" />
      </geometry>
      <origin xyz="0.0 0.0 0.010000000000000018" rpy="0.0 -0.0 0.0" />
    </collision>
    <collision name="lower_right_cabinet_1.003_0.958_0.998_1_top">
      <geometry>
        <box size="0.958 0.978 0.02" />
      </geometry>
      <origin xyz="0.0 0.01 0.9929999999999999" rpy="0.0 -0.0 0.0" />
    </collision>
  </link>
  <link name="lower_right_cabinet_1.003_0.958_0.998_1_door_0_0">
    <inertial>
      <origin xyz="0.0 0.0 0.0" rpy="0.0 -0.0 0.0" />
      <mass value="0.1" />
      <inertia ixx="1.0" ixy="0.0" ixz="0.0" iyy="1.0" iyz="0.0" izz="1.0" />
    </inertial>
    <visual><geometry><mesh filename="full_pipeline_simple/lower_right_cabinet_1.003_0.958_0.998_1.obj" /></geometry><material name="lower_right_cabinet_1.003_0.958_0.998_1_door_0_0_material"><color rgba="0.8 0.8 0.8 1.0" /></material></visual><collision><geometry><box size="0.954000 0.168200 0.999000" /></geometry><origin xyz="0.477000 -0.026000 0.000000" rpy="0 0 0" /></collision></link>
  <link name="drawer_0.333_0.958_0.998_4_corpus">
    <inertial>
      <origin xyz="0.0 0.0 0.0" rpy="0.0 -0.0 0.0" />
      <mass value="0.054318599999999995" />
      <inertia ixx="1.0" ixy="0.0" ixz="0.0" iyy="1.0" iyz="0.0" izz="1.0" />
    </inertial>
    <visual name="drawer_0.333_0.958_0.998_4_back">
      <geometry>
        <box size="0.958 0.02 0.313" />
      </geometry>
      <origin xyz="0.0 0.489 0.1565" rpy="0.0 -0.0 0.0" />
      <material name="drawer_0.333_0.958_0.998_4_back_main_color">
        <color rgba="0.4 0.4 0.4 1.0" />
      </material>
    </visual>
    <visual name="drawer_0.333_0.958_0.998_4_left">
      <geometry>
        <box size="0.02 0.958 0.313" />
      </geometry>
      <origin xyz="-0.469 0.0 0.1565" rpy="0.0 -0.0 0.0" />
      <material name="drawer_0.333_0.958_0.998_4_left_main_color">
        <color rgba="0.4 0.4 0.4 1.0" />
      </material>
    </visual>
    <visual name="drawer_0.333_0.958_0.998_4_right">
      <geometry>
        <box size="0.02 0.958 0.313" />
      </geometry>
      <origin xyz="0.469 0.0 0.1565" rpy="0.0 -0.0 0.0" />
      <material name="drawer_0.333_0.958_0.998_4_right_main_color">
        <color rgba="0.4 0.4 0.4 1.0" />
      </material>
    </visual>
    <visual name="drawer_0.333_0.958_0.998_4_surface_0_0">
      <geometry>
        <box size="0.9179999999999999 0.958 0.02" />
      </geometry>
      <origin xyz="0.0 0.0 0.009999999999999962" rpy="0.0 -0.0 0.0" />
      <material name="drawer_0.333_0.958_0.998_4_surface_0_0_main_color">
        <color rgba="0.4 0.4 0.4 1.0" />
      </material>
    </visual>
    <visual name="drawer_0.333_0.958_0.998_4_top">
      <geometry>
        <box size="0.958 0.978 0.02" />
      </geometry>
      <origin xyz="0.0 0.01 0.323" rpy="0.0 -0.0 0.0" />
      <material name="drawer_0.333_0.958_0.998_4_top_main_color">
        <color rgba="0.4 0.4 0.4 1.0" />
      </material>
    </visual>
    <collision name="drawer_0.333_0.958_0.998_4_back">
      <geometry>
        <box size="0.958 0.02 0.313" />
      </geometry>
      <origin xyz="0.0 0.489 0.1565" rpy="0.0 -0.0 0.0" />
    </collision>
    <collision name="drawer_0.333_0.958_0.998_4_left">
      <geometry>
        <box size="0.02 0.958 0.313" />
      </geometry>
      <origin xyz="-0.469 0.0 0.1565" rpy="0.0 -0.0 0.0" />
    </collision>
    <collision name="drawer_0.333_0.958_0.998_4_right">
      <geometry>
        <box size="0.02 0.958 0.313" />
      </geometry>
      <origin xyz="0.469 0.0 0.1565" rpy="0.0 -0.0 0.0" />
    </collision>
    <collision name="drawer_0.333_0.958_0.998_4_surface_0_0">
      <geometry>
        <box size="0.9179999999999999 0.958 0.02" />
      </geometry>
      <origin xyz="0.0 0.0 0.009999999999999962" rpy="0.0 -0.0 0.0" />
    </collision>
    <collision name="drawer_0.333_0.958_0.998_4_top">
      <geometry>
        <box size="0.958 0.978 0.02" />
      </geometry>
      <origin xyz="0.0 0.01 0.323" rpy="0.0 -0.0 0.0" />
    </collision>
  </link>
  <link name="drawer_0.333_0.958_0.998_4_drawer_0_0">
    <inertial>
      <origin xyz="0.0 0.0 0.0" rpy="0.0 -0.0 0.0" />
      <mass value="0.1" />
      <inertia ixx="1.0" ixy="0.0" ixz="0.0" iyy="1.0" iyz="0.0" izz="1.0" />
    </inertial>
    <visual><geometry><mesh filename="full_pipeline_simple/drawer_0.333_0.958_0.998_4.obj" /></geometry><material name="drawer_0.333_0.958_0.998_4_drawer_0_0_material"><color rgba="0.8 0.8 0.8 1.0" /></material></visual><collision><geometry><box size="0.954000 0.990300 0.329000" /></geometry><origin xyz="0.000000 0.365050 0.000000" rpy="0 0 0" /></collision></link>
  <link name="drawer_0.333_0.958_0.998_5_corpus">
    <inertial>
      <origin xyz="0.0 0.0 0.0" rpy="0.0 -0.0 0.0" />
      <mass value="0.054318599999999995" />
      <inertia ixx="1.0" ixy="0.0" ixz="0.0" iyy="1.0" iyz="0.0" izz="1.0" />
    </inertial>
    <visual name="drawer_0.333_0.958_0.998_5_back">
      <geometry>
        <box size="0.958 0.02 0.313" />
      </geometry>
      <origin xyz="0.0 0.489 0.1565" rpy="0.0 -0.0 0.0" />
      <material name="drawer_0.333_0.958_0.998_5_back_main_color">
        <color rgba="0.4 0.4 0.4 1.0" />
      </material>
    </visual>
    <visual name="drawer_0.333_0.958_0.998_5_left">
      <geometry>
        <box size="0.02 0.958 0.313" />
      </geometry>
      <origin xyz="-0.469 0.0 0.1565" rpy="0.0 -0.0 0.0" />
      <material name="drawer_0.333_0.958_0.998_5_left_main_color">
        <color rgba="0.4 0.4 0.4 1.0" />
      </material>
    </visual>
    <visual name="drawer_0.333_0.958_0.998_5_right">
      <geometry>
        <box size="0.02 0.958 0.313" />
      </geometry>
      <origin xyz="0.469 0.0 0.1565" rpy="0.0 -0.0 0.0" />
      <material name="drawer_0.333_0.958_0.998_5_right_main_color">
        <color rgba="0.4 0.4 0.4 1.0" />
      </material>
    </visual>
    <visual name="drawer_0.333_0.958_0.998_5_surface_0_0">
      <geometry>
        <box size="0.9179999999999999 0.958 0.02" />
      </geometry>
      <origin xyz="0.0 0.0 0.009999999999999962" rpy="0.0 -0.0 0.0" />
      <material name="drawer_0.333_0.958_0.998_5_surface_0_0_main_color">
        <color rgba="0.4 0.4 0.4 1.0" />
      </material>
    </visual>
    <visual name="drawer_0.333_0.958_0.998_5_top">
      <geometry>
        <box size="0.958 0.978 0.02" />
      </geometry>
      <origin xyz="0.0 0.01 0.323" rpy="0.0 -0.0 0.0" />
      <material name="drawer_0.333_0.958_0.998_5_top_main_color">
        <color rgba="0.4 0.4 0.4 1.0" />
      </material>
    </visual>
    <collision name="drawer_0.333_0.958_0.998_5_back">
      <geometry>
        <box size="0.958 0.02 0.313" />
      </geometry>
      <origin xyz="0.0 0.489 0.1565" rpy="0.0 -0.0 0.0" />
    </collision>
    <collision name="drawer_0.333_0.958_0.998_5_left">
      <geometry>
        <box size="0.02 0.958 0.313" />
      </geometry>
      <origin xyz="-0.469 0.0 0.1565" rpy="0.0 -0.0 0.0" />
    </collision>
    <collision name="drawer_0.333_0.958_0.998_5_right">
      <geometry>
        <box size="0.02 0.958 0.313" />
      </geometry>
      <origin xyz="0.469 0.0 0.1565" rpy="0.0 -0.0 0.0" />
    </collision>
    <collision name="drawer_0.333_0.958_0.998_5_surface_0_0">
      <geometry>
        <box size="0.9179999999999999 0.958 0.02" />
      </geometry>
      <origin xyz="0.0 0.0 0.009999999999999962" rpy="0.0 -0.0 0.0" />
    </collision>
    <collision name="drawer_0.333_0.958_0.998_5_top">
      <geometry>
        <box size="0.958 0.978 0.02" />
      </geometry>
      <origin xyz="0.0 0.01 0.323" rpy="0.0 -0.0 0.0" />
    </collision>
  </link>
  <link name="drawer_0.333_0.958_0.998_5_drawer_0_0">
    <inertial>
      <origin xyz="0.0 0.0 0.0" rpy="0.0 -0.0 0.0" />
      <mass value="0.1" />
      <inertia ixx="1.0" ixy="0.0" ixz="0.0" iyy="1.0" iyz="0.0" izz="1.0" />
    </inertial>
    <visual><geometry><mesh filename="full_pipeline_simple/drawer_0.333_0.958_0.998_5.obj" /></geometry><material name="drawer_0.333_0.958_0.998_5_drawer_0_0_material"><color rgba="0.8 0.8 0.8 1.0" /></material></visual><collision><geometry><box size="0.954000 0.990300 0.329000" /></geometry><origin xyz="0.000000 0.365050 0.000000" rpy="0 0 0" /></collision></link>
  <link name="lower_left_cabinet_1.003_0.958_0.998_2_corpus">
    <inertial>
      <origin xyz="0.0 0.0 0.0" rpy="0.0 -0.0 0.0" />
      <mass value="0.10162463999999999" />
      <inertia ixx="1.0" ixy="0.0" ixz="0.0" iyy="1.0" iyz="0.0" izz="1.0" />
    </inertial>
    <visual name="lower_left_cabinet_1.003_0.958_0.998_2_back">
      <geometry>
        <box size="0.958 0.02 0.9829999999999999" />
      </geometry>
      <origin xyz="0.0 0.489 0.49149999999999994" rpy="0.0 -0.0 0.0" />
      <material name="lower_left_cabinet_1.003_0.958_0.998_2_back_main_color">
        <color rgba="0.4 0.4 0.4 1.0" />
      </material>
    </visual>
    <visual name="lower_left_cabinet_1.003_0.958_0.998_2_left">
      <geometry>
        <box size="0.02 0.958 0.9829999999999999" />
      </geometry>
      <origin xyz="-0.469 0.0 0.49149999999999994" rpy="0.0 -0.0 0.0" />
      <material name="lower_left_cabinet_1.003_0.958_0.998_2_left_main_color">
        <color rgba="0.4 0.4 0.4 1.0" />
      </material>
    </visual>
    <visual name="lower_left_cabinet_1.003_0.958_0.998_2_right">
      <geometry>
        <box size="0.02 0.958 0.9829999999999999" />
      </geometry>
      <origin xyz="0.469 0.0 0.49149999999999994" rpy="0.0 -0.0 0.0" />
      <material name="lower_left_cabinet_1.003_0.958_0.998_2_right_main_color">
        <color rgba="0.4 0.4 0.4 1.0" />
      </material>
    </visual>
    <visual name="lower_left_cabinet_1.003_0.958_0.998_2_shelf_0_0_0">
      <geometry>
        <box size="0.9179999999999999 0.958 0.01" />
      </geometry>
      <origin xyz="0.0 0.0 0.5015" rpy="0.0 -0.0 0.0" />
      <material name="lower_left_cabinet_1.003_0.958_0.998_2_shelf_0_0_0_main_color">
        <color rgba="0.4 0.4 0.4 1.0" />
      </material>
    </visual>
    <visual name="lower_left_cabinet_1.003_0.958_0.998_2_surface_0_0">
      <geometry>
        <box size="0.9179999999999999 0.958 0.02" />
      </geometry>
      <origin xyz="0.0 0.0 0.010000000000000018" rpy="0.0 -0.0 0.0" />
      <material name="lower_left_cabinet_1.003_0.958_0.998_2_surface_0_0_main_color">
        <color rgba="0.4 0.4 0.4 1.0" />
      </material>
    </visual>
    <visual name="lower_left_cabinet_1.003_0.958_0.998_2_top">
      <geometry>
        <box size="0.958 0.978 0.02" />
      </geometry>
      <origin xyz="0.0 0.01 0.9929999999999999" rpy="0.0 -0.0 0.0" />
      <material name="lower_left_cabinet_1.003_0.958_0.998_2_top_main_color">
        <color rgba="0.4 0.4 0.4 1.0" />
      </material>
    </visual>
    <collision name="lower_left_cabinet_1.003_0.958_0.998_2_back">
      <geometry>
        <box size="0.958 0.02 0.9829999999999999" />
      </geometry>
      <origin xyz="0.0 0.489 0.49149999999999994" rpy="0.0 -0.0 0.0" />
    </collision>
    <collision name="lower_left_cabinet_1.003_0.958_0.998_2_left">
      <geometry>
        <box size="0.02 0.958 0.9829999999999999" />
      </geometry>
      <origin xyz="-0.469 0.0 0.49149999999999994" rpy="0.0 -0.0 0.0" />
    </collision>
    <collision name="lower_left_cabinet_1.003_0.958_0.998_2_right">
      <geometry>
        <box size="0.02 0.958 0.9829999999999999" />
      </geometry>
      <origin xyz="0.469 0.0 0.49149999999999994" rpy="0.0 -0.0 0.0" />
    </collision>
    <collision name="lower_left_cabinet_1.003_0.958_0.998_2_shelf_0_0_0">
      <geometry>
        <box size="0.9179999999999999 0.958 0.01" />
      </geometry>
      <origin xyz="0.0 0.0 0.5015" rpy="0.0 -0.0 0.0" />
    </collision>
    <collision name="lower_left_cabinet_1.003_0.958_0.998_2_surface_0_0">
      <geometry>
        <box size="0.9179999999999999 0.958 0.02" />
      </geometry>
      <origin xyz="0.0 0.0 0.010000000000000018" rpy="0.0 -0.0 0.0" />
    </collision>
    <collision name="lower_left_cabinet_1.003_0.958_0.998_2_top">
      <geometry>
        <box size="0.958 0.978 0.02" />
      </geometry>
      <origin xyz="0.0 0.01 0.9929999999999999" rpy="0.0 -0.0 0.0" />
    </collision>
  </link>
  <link name="lower_left_cabinet_1.003_0.958_0.998_2_door_0_0">
    <inertial>
      <origin xyz="0.0 0.0 0.0" rpy="0.0 -0.0 0.0" />
      <mass value="0.1" />
      <inertia ixx="1.0" ixy="0.0" ixz="0.0" iyy="1.0" iyz="0.0" izz="1.0" />
    </inertial>
    <visual><geometry><mesh filename="full_pipeline_simple/lower_left_cabinet_1.003_0.958_0.998_2.obj" /></geometry><material name="lower_left_cabinet_1.003_0.958_0.998_2_door_0_0_material"><color rgba="0.8 0.8 0.8 1.0" /></material></visual><collision><geometry><box size="0.954000 0.168200 0.999000" /></geometry><origin xyz="-0.477000 -0.026000 0.000000" rpy="0 0 0" /></collision></link>
  <link name="lower_right_cabinet_1.003_0.958_0.998_2_corpus">
    <inertial>
      <origin xyz="0.0 0.0 0.0" rpy="0.0 -0.0 0.0" />
      <mass value="0.10162463999999999" />
      <inertia ixx="1.0" ixy="0.0" ixz="0.0" iyy="1.0" iyz="0.0" izz="1.0" />
    </inertial>
    <visual name="lower_right_cabinet_1.003_0.958_0.998_2_back">
      <geometry>
        <box size="0.958 0.02 0.9829999999999999" />
      </geometry>
      <origin xyz="0.0 0.489 0.49149999999999994" rpy="0.0 -0.0 0.0" />
      <material name="lower_right_cabinet_1.003_0.958_0.998_2_back_main_color">
        <color rgba="0.4 0.4 0.4 1.0" />
      </material>
    </visual>
    <visual name="lower_right_cabinet_1.003_0.958_0.998_2_left">
      <geometry>
        <box size="0.02 0.958 0.9829999999999999" />
      </geometry>
      <origin xyz="-0.469 0.0 0.49149999999999994" rpy="0.0 -0.0 0.0" />
      <material name="lower_right_cabinet_1.003_0.958_0.998_2_left_main_color">
        <color rgba="0.4 0.4 0.4 1.0" />
      </material>
    </visual>
    <visual name="lower_right_cabinet_1.003_0.958_0.998_2_right">
      <geometry>
        <box size="0.02 0.958 0.9829999999999999" />
      </geometry>
      <origin xyz="0.469 0.0 0.49149999999999994" rpy="0.0 -0.0 0.0" />
      <material name="lower_right_cabinet_1.003_0.958_0.998_2_right_main_color">
        <color rgba="0.4 0.4 0.4 1.0" />
      </material>
    </visual>
    <visual name="lower_right_cabinet_1.003_0.958_0.998_2_shelf_0_0_0">
      <geometry>
        <box size="0.9179999999999999 0.958 0.01" />
      </geometry>
      <origin xyz="0.0 0.0 0.5015" rpy="0.0 -0.0 0.0" />
      <material name="lower_right_cabinet_1.003_0.958_0.998_2_shelf_0_0_0_main_color">
        <color rgba="0.4 0.4 0.4 1.0" />
      </material>
    </visual>
    <visual name="lower_right_cabinet_1.003_0.958_0.998_2_surface_0_0">
      <geometry>
        <box size="0.9179999999999999 0.958 0.02" />
      </geometry>
      <origin xyz="0.0 0.0 0.010000000000000018" rpy="0.0 -0.0 0.0" />
      <material name="lower_right_cabinet_1.003_0.958_0.998_2_surface_0_0_main_color">
        <color rgba="0.4 0.4 0.4 1.0" />
      </material>
    </visual>
    <visual name="lower_right_cabinet_1.003_0.958_0.998_2_top">
      <geometry>
        <box size="0.958 0.978 0.02" />
      </geometry>
      <origin xyz="0.0 0.01 0.9929999999999999" rpy="0.0 -0.0 0.0" />
      <material name="lower_right_cabinet_1.003_0.958_0.998_2_top_main_color">
        <color rgba="0.4 0.4 0.4 1.0" />
      </material>
    </visual>
    <collision name="lower_right_cabinet_1.003_0.958_0.998_2_back">
      <geometry>
        <box size="0.958 0.02 0.9829999999999999" />
      </geometry>
      <origin xyz="0.0 0.489 0.49149999999999994" rpy="0.0 -0.0 0.0" />
    </collision>
    <collision name="lower_right_cabinet_1.003_0.958_0.998_2_left">
      <geometry>
        <box size="0.02 0.958 0.9829999999999999" />
      </geometry>
      <origin xyz="-0.469 0.0 0.49149999999999994" rpy="0.0 -0.0 0.0" />
    </collision>
    <collision name="lower_right_cabinet_1.003_0.958_0.998_2_right">
      <geometry>
        <box size="0.02 0.958 0.9829999999999999" />
      </geometry>
      <origin xyz="0.469 0.0 0.49149999999999994" rpy="0.0 -0.0 0.0" />
    </collision>
    <collision name="lower_right_cabinet_1.003_0.958_0.998_2_shelf_0_0_0">
      <geometry>
        <box size="0.9179999999999999 0.958 0.01" />
      </geometry>
      <origin xyz="0.0 0.0 0.5015" rpy="0.0 -0.0 0.0" />
    </collision>
    <collision name="lower_right_cabinet_1.003_0.958_0.998_2_surface_0_0">
      <geometry>
        <box size="0.9179999999999999 0.958 0.02" />
      </geometry>
      <origin xyz="0.0 0.0 0.010000000000000018" rpy="0.0 -0.0 0.0" />
    </collision>
    <collision name="lower_right_cabinet_1.003_0.958_0.998_2_top">
      <geometry>
        <box size="0.958 0.978 0.02" />
      </geometry>
      <origin xyz="0.0 0.01 0.9929999999999999" rpy="0.0 -0.0 0.0" />
    </collision>
  </link>
  <link name="lower_right_cabinet_1.003_0.958_0.998_2_door_0_0">
    <inertial>
      <origin xyz="0.0 0.0 0.0" rpy="0.0 -0.0 0.0" />
      <mass value="0.1" />
      <inertia ixx="1.0" ixy="0.0" ixz="0.0" iyy="1.0" iyz="0.0" izz="1.0" />
    </inertial>
    <visual><geometry><mesh filename="full_pipeline_simple/lower_right_cabinet_1.003_0.958_0.998_2.obj" /></geometry><material name="lower_right_cabinet_1.003_0.958_0.998_2_door_0_0_material"><color rgba="0.8 0.8 0.8 1.0" /></material></visual><collision><geometry><box size="0.954000 0.168200 0.999000" /></geometry><origin xyz="0.477000 -0.026000 0.000000" rpy="0 0 0" /></collision></link>
  <link name="upper_left_cabinet_1.003_0.958_0.65_0_corpus">
    <inertial>
      <origin xyz="0.0 0.0 0.0" rpy="0.0 -0.0 0.0" />
      <mass value="0.06948634" />
      <inertia ixx="1.0" ixy="0.0" ixz="0.0" iyy="1.0" iyz="0.0" izz="1.0" />
    </inertial>
    <visual name="upper_left_cabinet_1.003_0.958_0.65_0_back">
      <geometry>
        <box size="0.958 0.01 2.0930000000000004" />
      </geometry>
      <origin xyz="0.0 0.32 1.0465000000000002" rpy="0.0 -0.0 0.0" />
      <material name="upper_left_cabinet_1.003_0.958_0.65_0_back_main_color">
        <color rgba="0.4 0.4 0.4 1.0" />
      </material>
    </visual>
    <visual name="upper_left_cabinet_1.003_0.958_0.65_0_left">
      <geometry>
        <box size="0.01 0.62 2.0930000000000004" />
      </geometry>
      <origin xyz="-0.474 0.005 1.0465000000000002" rpy="0.0 -0.0 0.0" />
      <material name="upper_left_cabinet_1.003_0.958_0.65_0_left_main_color">
        <color rgba="0.4 0.4 0.4 1.0" />
      </material>
    </visual>
    <visual name="upper_left_cabinet_1.003_0.958_0.65_0_right">
      <geometry>
        <box size="0.01 0.62 2.0930000000000004" />
      </geometry>
      <origin xyz="0.474 0.005 1.0465000000000002" rpy="0.0 -0.0 0.0" />
      <material name="upper_left_cabinet_1.003_0.958_0.65_0_right_main_color">
        <color rgba="0.4 0.4 0.4 1.0" />
      </material>
    </visual>
    <visual name="upper_left_cabinet_1.003_0.958_0.65_0_shelf_0_0_0">
      <geometry>
        <box size="0.938 0.62 0.01" />
      </geometry>
      <origin xyz="0.0 0.005 1.3986666666666672" rpy="0.0 -0.0 0.0" />
      <material name="upper_left_cabinet_1.003_0.958_0.65_0_shelf_0_0_0_main_color">
        <color rgba="0.4 0.4 0.4 1.0" />
      </material>
    </visual>
    <visual name="upper_left_cabinet_1.003_0.958_0.65_0_shelf_0_0_1">
      <geometry>
        <box size="0.938 0.62 0.01" />
      </geometry>
      <origin xyz="0.0 0.005 0.7043333333333337" rpy="0.0 -0.0 0.0" />
      <material name="upper_left_cabinet_1.003_0.958_0.65_0_shelf_0_0_1_main_color">
        <color rgba="0.4 0.4 0.4 1.0" />
      </material>
    </visual>
    <visual name="upper_left_cabinet_1.003_0.958_0.65_0_surface_0_0">
      <geometry>
        <box size="0.938 0.62 0.01" />
      </geometry>
      <origin xyz="0.0 0.005 0.005000000000000231" rpy="0.0 -0.0 0.0" />
      <material name="upper_left_cabinet_1.003_0.958_0.65_0_surface_0_0_main_color">
        <color rgba="0.4 0.4 0.4 1.0" />
      </material>
    </visual>
    <visual name="upper_left_cabinet_1.003_0.958_0.65_0_top">
      <geometry>
        <box size="0.958 0.63 0.01" />
      </geometry>
      <origin xyz="0.0 0.01 2.0980000000000003" rpy="0.0 -0.0 0.0" />
      <material name="upper_left_cabinet_1.003_0.958_0.65_0_top_main_color">
        <color rgba="0.4 0.4 0.4 1.0" />
      </material>
    </visual>
    <collision name="upper_left_cabinet_1.003_0.958_0.65_0_back">
      <geometry>
        <box size="0.958 0.01 2.0930000000000004" />
      </geometry>
      <origin xyz="0.0 0.32 1.0465000000000002" rpy="0.0 -0.0 0.0" />
    </collision>
    <collision name="upper_left_cabinet_1.003_0.958_0.65_0_left">
      <geometry>
        <box size="0.01 0.62 2.0930000000000004" />
      </geometry>
      <origin xyz="-0.474 0.005 1.0465000000000002" rpy="0.0 -0.0 0.0" />
    </collision>
    <collision name="upper_left_cabinet_1.003_0.958_0.65_0_right">
      <geometry>
        <box size="0.01 0.62 2.0930000000000004" />
      </geometry>
      <origin xyz="0.474 0.005 1.0465000000000002" rpy="0.0 -0.0 0.0" />
    </collision>
    <collision name="upper_left_cabinet_1.003_0.958_0.65_0_shelf_0_0_0">
      <geometry>
        <box size="0.938 0.62 0.01" />
      </geometry>
      <origin xyz="0.0 0.005 1.3986666666666672" rpy="0.0 -0.0 0.0" />
    </collision>
    <collision name="upper_left_cabinet_1.003_0.958_0.65_0_shelf_0_0_1">
      <geometry>
        <box size="0.938 0.62 0.01" />
      </geometry>
      <origin xyz="0.0 0.005 0.7043333333333337" rpy="0.0 -0.0 0.0" />
    </collision>
    <collision name="upper_left_cabinet_1.003_0.958_0.65_0_surface_0_0">
      <geometry>
        <box size="0.938 0.62 0.01" />
      </geometry>
      <origin xyz="0.0 0.005 0.005000000000000231" rpy="0.0 -0.0 0.0" />
    </collision>
    <collision name="upper_left_cabinet_1.003_0.958_0.65_0_top">
      <geometry>
        <box size="0.958 0.63 0.01" />
      </geometry>
      <origin xyz="0.0 0.01 2.0980000000000003" rpy="0.0 -0.0 0.0" />
    </collision>
  </link>
  <link name="upper_left_cabinet_1.003_0.958_0.65_0_door_0_0">
    <inertial>
      <origin xyz="0.0 0.0 0.0" rpy="0.0 -0.0 0.0" />
      <mass value="0.09999999999999998" />
      <inertia ixx="1.0" ixy="0.0" ixz="0.0" iyy="1.0" iyz="0.0" izz="1.0" />
    </inertial>
    <visual><geometry><mesh filename="full_pipeline_simple/upper_left_cabinet_1.003_0.958_0.65_0.obj" /></geometry><material name="upper_left_cabinet_1.003_0.958_0.65_0_door_0_0_material"><color rgba="0.8 0.8 0.8 1.0" /></material></visual><collision><geometry><box size="0.956000 0.168200 2.101000" /></geometry><origin xyz="-0.478000 -0.026000 0.000000" rpy="0 0 0" /></collision></link>
  <link name="upper_right_cabinet_1.003_0.958_0.65_0_corpus">
    <inertial>
      <origin xyz="0.0 0.0 0.0" rpy="0.0 -0.0 0.0" />
      <mass value="0.06948634" />
      <inertia ixx="1.0" ixy="0.0" ixz="0.0" iyy="1.0" iyz="0.0" izz="1.0" />
    </inertial>
    <visual name="upper_right_cabinet_1.003_0.958_0.65_0_back">
      <geometry>
        <box size="0.958 0.01 2.0930000000000004" />
      </geometry>
      <origin xyz="0.0 0.32 1.0465000000000002" rpy="0.0 -0.0 0.0" />
      <material name="upper_right_cabinet_1.003_0.958_0.65_0_back_main_color">
        <color rgba="0.4 0.4 0.4 1.0" />
      </material>
    </visual>
    <visual name="upper_right_cabinet_1.003_0.958_0.65_0_left">
      <geometry>
        <box size="0.01 0.62 2.0930000000000004" />
      </geometry>
      <origin xyz="-0.474 0.005 1.0465000000000002" rpy="0.0 -0.0 0.0" />
      <material name="upper_right_cabinet_1.003_0.958_0.65_0_left_main_color">
        <color rgba="0.4 0.4 0.4 1.0" />
      </material>
    </visual>
    <visual name="upper_right_cabinet_1.003_0.958_0.65_0_right">
      <geometry>
        <box size="0.01 0.62 2.0930000000000004" />
      </geometry>
      <origin xyz="0.474 0.005 1.0465000000000002" rpy="0.0 -0.0 0.0" />
      <material name="upper_right_cabinet_1.003_0.958_0.65_0_right_main_color">
        <color rgba="0.4 0.4 0.4 1.0" />
      </material>
    </visual>
    <visual name="upper_right_cabinet_1.003_0.958_0.65_0_shelf_0_0_0">
      <geometry>
        <box size="0.938 0.62 0.01" />
      </geometry>
      <origin xyz="0.0 0.005 1.3986666666666672" rpy="0.0 -0.0 0.0" />
      <material name="upper_right_cabinet_1.003_0.958_0.65_0_shelf_0_0_0_main_color">
        <color rgba="0.4 0.4 0.4 1.0" />
      </material>
    </visual>
    <visual name="upper_right_cabinet_1.003_0.958_0.65_0_shelf_0_0_1">
      <geometry>
        <box size="0.938 0.62 0.01" />
      </geometry>
      <origin xyz="0.0 0.005 0.7043333333333337" rpy="0.0 -0.0 0.0" />
      <material name="upper_right_cabinet_1.003_0.958_0.65_0_shelf_0_0_1_main_color">
        <color rgba="0.4 0.4 0.4 1.0" />
      </material>
    </visual>
    <visual name="upper_right_cabinet_1.003_0.958_0.65_0_surface_0_0">
      <geometry>
        <box size="0.938 0.62 0.01" />
      </geometry>
      <origin xyz="0.0 0.005 0.005000000000000231" rpy="0.0 -0.0 0.0" />
      <material name="upper_right_cabinet_1.003_0.958_0.65_0_surface_0_0_main_color">
        <color rgba="0.4 0.4 0.4 1.0" />
      </material>
    </visual>
    <visual name="upper_right_cabinet_1.003_0.958_0.65_0_top">
      <geometry>
        <box size="0.958 0.63 0.01" />
      </geometry>
      <origin xyz="0.0 0.01 2.0980000000000003" rpy="0.0 -0.0 0.0" />
      <material name="upper_right_cabinet_1.003_0.958_0.65_0_top_main_color">
        <color rgba="0.4 0.4 0.4 1.0" />
      </material>
    </visual>
    <collision name="upper_right_cabinet_1.003_0.958_0.65_0_back">
      <geometry>
        <box size="0.958 0.01 2.0930000000000004" />
      </geometry>
      <origin xyz="0.0 0.32 1.0465000000000002" rpy="0.0 -0.0 0.0" />
    </collision>
    <collision name="upper_right_cabinet_1.003_0.958_0.65_0_left">
      <geometry>
        <box size="0.01 0.62 2.0930000000000004" />
      </geometry>
      <origin xyz="-0.474 0.005 1.0465000000000002" rpy="0.0 -0.0 0.0" />
    </collision>
    <collision name="upper_right_cabinet_1.003_0.958_0.65_0_right">
      <geometry>
        <box size="0.01 0.62 2.0930000000000004" />
      </geometry>
      <origin xyz="0.474 0.005 1.0465000000000002" rpy="0.0 -0.0 0.0" />
    </collision>
    <collision name="upper_right_cabinet_1.003_0.958_0.65_0_shelf_0_0_0">
      <geometry>
        <box size="0.938 0.62 0.01" />
      </geometry>
      <origin xyz="0.0 0.005 1.3986666666666672" rpy="0.0 -0.0 0.0" />
    </collision>
    <collision name="upper_right_cabinet_1.003_0.958_0.65_0_shelf_0_0_1">
      <geometry>
        <box size="0.938 0.62 0.01" />
      </geometry>
      <origin xyz="0.0 0.005 0.7043333333333337" rpy="0.0 -0.0 0.0" />
    </collision>
    <collision name="upper_right_cabinet_1.003_0.958_0.65_0_surface_0_0">
      <geometry>
        <box size="0.938 0.62 0.01" />
      </geometry>
      <origin xyz="0.0 0.005 0.005000000000000231" rpy="0.0 -0.0 0.0" />
    </collision>
    <collision name="upper_right_cabinet_1.003_0.958_0.65_0_top">
      <geometry>
        <box size="0.958 0.63 0.01" />
      </geometry>
      <origin xyz="0.0 0.01 2.0980000000000003" rpy="0.0 -0.0 0.0" />
    </collision>
  </link>
  <link name="upper_right_cabinet_1.003_0.958_0.65_0_door_0_0">
    <inertial>
      <origin xyz="0.0 0.0 0.0" rpy="0.0 -0.0 0.0" />
      <mass value="0.09999999999999998" />
      <inertia ixx="1.0" ixy="0.0" ixz="0.0" iyy="1.0" iyz="0.0" izz="1.0" />
    </inertial>
    <visual><geometry><mesh filename="full_pipeline_simple/upper_right_cabinet_1.003_0.958_0.65_0.obj" /></geometry><material name="upper_right_cabinet_1.003_0.958_0.65_0_door_0_0_material"><color rgba="0.8 0.8 0.8 1.0" /></material></visual><collision><geometry><box size="0.956000 0.168200 2.101000" /></geometry><origin xyz="0.478000 -0.026000 0.000000" rpy="0 0 0" /></collision></link>
  <link name="upper_left_cabinet_1.003_0.958_0.65_1_corpus">
    <inertial>
      <origin xyz="0.0 0.0 0.0" rpy="0.0 -0.0 0.0" />
      <mass value="0.06948634" />
      <inertia ixx="1.0" ixy="0.0" ixz="0.0" iyy="1.0" iyz="0.0" izz="1.0" />
    </inertial>
    <visual name="upper_left_cabinet_1.003_0.958_0.65_1_back">
      <geometry>
        <box size="0.958 0.01 2.0930000000000004" />
      </geometry>
      <origin xyz="0.0 0.32 1.0465000000000002" rpy="0.0 -0.0 0.0" />
      <material name="upper_left_cabinet_1.003_0.958_0.65_1_back_main_color">
        <color rgba="0.4 0.4 0.4 1.0" />
      </material>
    </visual>
    <visual name="upper_left_cabinet_1.003_0.958_0.65_1_left">
      <geometry>
        <box size="0.01 0.62 2.0930000000000004" />
      </geometry>
      <origin xyz="-0.474 0.005 1.0465000000000002" rpy="0.0 -0.0 0.0" />
      <material name="upper_left_cabinet_1.003_0.958_0.65_1_left_main_color">
        <color rgba="0.4 0.4 0.4 1.0" />
      </material>
    </visual>
    <visual name="upper_left_cabinet_1.003_0.958_0.65_1_right">
      <geometry>
        <box size="0.01 0.62 2.0930000000000004" />
      </geometry>
      <origin xyz="0.474 0.005 1.0465000000000002" rpy="0.0 -0.0 0.0" />
      <material name="upper_left_cabinet_1.003_0.958_0.65_1_right_main_color">
        <color rgba="0.4 0.4 0.4 1.0" />
      </material>
    </visual>
    <visual name="upper_left_cabinet_1.003_0.958_0.65_1_shelf_0_0_0">
      <geometry>
        <box size="0.938 0.62 0.01" />
      </geometry>
      <origin xyz="0.0 0.005 1.3986666666666672" rpy="0.0 -0.0 0.0" />
      <material name="upper_left_cabinet_1.003_0.958_0.65_1_shelf_0_0_0_main_color">
        <color rgba="0.4 0.4 0.4 1.0" />
      </material>
    </visual>
    <visual name="upper_left_cabinet_1.003_0.958_0.65_1_shelf_0_0_1">
      <geometry>
        <box size="0.938 0.62 0.01" />
      </geometry>
      <origin xyz="0.0 0.005 0.7043333333333337" rpy="0.0 -0.0 0.0" />
      <material name="upper_left_cabinet_1.003_0.958_0.65_1_shelf_0_0_1_main_color">
        <color rgba="0.4 0.4 0.4 1.0" />
      </material>
    </visual>
    <visual name="upper_left_cabinet_1.003_0.958_0.65_1_surface_0_0">
      <geometry>
        <box size="0.938 0.62 0.01" />
      </geometry>
      <origin xyz="0.0 0.005 0.005000000000000231" rpy="0.0 -0.0 0.0" />
      <material name="upper_left_cabinet_1.003_0.958_0.65_1_surface_0_0_main_color">
        <color rgba="0.4 0.4 0.4 1.0" />
      </material>
    </visual>
    <visual name="upper_left_cabinet_1.003_0.958_0.65_1_top">
      <geometry>
        <box size="0.958 0.63 0.01" />
      </geometry>
      <origin xyz="0.0 0.01 2.0980000000000003" rpy="0.0 -0.0 0.0" />
      <material name="upper_left_cabinet_1.003_0.958_0.65_1_top_main_color">
        <color rgba="0.4 0.4 0.4 1.0" />
      </material>
    </visual>
    <collision name="upper_left_cabinet_1.003_0.958_0.65_1_back">
      <geometry>
        <box size="0.958 0.01 2.0930000000000004" />
      </geometry>
      <origin xyz="0.0 0.32 1.0465000000000002" rpy="0.0 -0.0 0.0" />
    </collision>
    <collision name="upper_left_cabinet_1.003_0.958_0.65_1_left">
      <geometry>
        <box size="0.01 0.62 2.0930000000000004" />
      </geometry>
      <origin xyz="-0.474 0.005 1.0465000000000002" rpy="0.0 -0.0 0.0" />
    </collision>
    <collision name="upper_left_cabinet_1.003_0.958_0.65_1_right">
      <geometry>
        <box size="0.01 0.62 2.0930000000000004" />
      </geometry>
      <origin xyz="0.474 0.005 1.0465000000000002" rpy="0.0 -0.0 0.0" />
    </collision>
    <collision name="upper_left_cabinet_1.003_0.958_0.65_1_shelf_0_0_0">
      <geometry>
        <box size="0.938 0.62 0.01" />
      </geometry>
      <origin xyz="0.0 0.005 1.3986666666666672" rpy="0.0 -0.0 0.0" />
    </collision>
    <collision name="upper_left_cabinet_1.003_0.958_0.65_1_shelf_0_0_1">
      <geometry>
        <box size="0.938 0.62 0.01" />
      </geometry>
      <origin xyz="0.0 0.005 0.7043333333333337" rpy="0.0 -0.0 0.0" />
    </collision>
    <collision name="upper_left_cabinet_1.003_0.958_0.65_1_surface_0_0">
      <geometry>
        <box size="0.938 0.62 0.01" />
      </geometry>
      <origin xyz="0.0 0.005 0.005000000000000231" rpy="0.0 -0.0 0.0" />
    </collision>
    <collision name="upper_left_cabinet_1.003_0.958_0.65_1_top">
      <geometry>
        <box size="0.958 0.63 0.01" />
      </geometry>
      <origin xyz="0.0 0.01 2.0980000000000003" rpy="0.0 -0.0 0.0" />
    </collision>
  </link>
  <link name="upper_left_cabinet_1.003_0.958_0.65_1_door_0_0">
    <inertial>
      <origin xyz="0.0 0.0 0.0" rpy="0.0 -0.0 0.0" />
      <mass value="0.09999999999999998" />
      <inertia ixx="1.0" ixy="0.0" ixz="0.0" iyy="1.0" iyz="0.0" izz="1.0" />
    </inertial>
    <visual><geometry><mesh filename="full_pipeline_simple/upper_left_cabinet_1.003_0.958_0.65_1.obj" /></geometry><material name="upper_left_cabinet_1.003_0.958_0.65_1_door_0_0_material"><color rgba="0.8 0.8 0.8 1.0" /></material></visual><collision><geometry><box size="0.956000 0.168200 2.101000" /></geometry><origin xyz="-0.478000 -0.026000 0.000000" rpy="0 0 0" /></collision></link>
  <link name="upper_right_cabinet_1.003_0.958_0.65_1_corpus">
    <inertial>
      <origin xyz="0.0 0.0 0.0" rpy="0.0 -0.0 0.0" />
      <mass value="0.06948634" />
      <inertia ixx="1.0" ixy="0.0" ixz="0.0" iyy="1.0" iyz="0.0" izz="1.0" />
    </inertial>
    <visual name="upper_right_cabinet_1.003_0.958_0.65_1_back">
      <geometry>
        <box size="0.958 0.01 2.0930000000000004" />
      </geometry>
      <origin xyz="0.0 0.32 1.0465000000000002" rpy="0.0 -0.0 0.0" />
      <material name="upper_right_cabinet_1.003_0.958_0.65_1_back_main_color">
        <color rgba="0.4 0.4 0.4 1.0" />
      </material>
    </visual>
    <visual name="upper_right_cabinet_1.003_0.958_0.65_1_left">
      <geometry>
        <box size="0.01 0.62 2.0930000000000004" />
      </geometry>
      <origin xyz="-0.474 0.005 1.0465000000000002" rpy="0.0 -0.0 0.0" />
      <material name="upper_right_cabinet_1.003_0.958_0.65_1_left_main_color">
        <color rgba="0.4 0.4 0.4 1.0" />
      </material>
    </visual>
    <visual name="upper_right_cabinet_1.003_0.958_0.65_1_right">
      <geometry>
        <box size="0.01 0.62 2.0930000000000004" />
      </geometry>
      <origin xyz="0.474 0.005 1.0465000000000002" rpy="0.0 -0.0 0.0" />
      <material name="upper_right_cabinet_1.003_0.958_0.65_1_right_main_color">
        <color rgba="0.4 0.4 0.4 1.0" />
      </material>
    </visual>
    <visual name="upper_right_cabinet_1.003_0.958_0.65_1_shelf_0_0_0">
      <geometry>
        <box size="0.938 0.62 0.01" />
      </geometry>
      <origin xyz="0.0 0.005 1.3986666666666672" rpy="0.0 -0.0 0.0" />
      <material name="upper_right_cabinet_1.003_0.958_0.65_1_shelf_0_0_0_main_color">
        <color rgba="0.4 0.4 0.4 1.0" />
      </material>
    </visual>
    <visual name="upper_right_cabinet_1.003_0.958_0.65_1_shelf_0_0_1">
      <geometry>
        <box size="0.938 0.62 0.01" />
      </geometry>
      <origin xyz="0.0 0.005 0.7043333333333337" rpy="0.0 -0.0 0.0" />
      <material name="upper_right_cabinet_1.003_0.958_0.65_1_shelf_0_0_1_main_color">
        <color rgba="0.4 0.4 0.4 1.0" />
      </material>
    </visual>
    <visual name="upper_right_cabinet_1.003_0.958_0.65_1_surface_0_0">
      <geometry>
        <box size="0.938 0.62 0.01" />
      </geometry>
      <origin xyz="0.0 0.005 0.005000000000000231" rpy="0.0 -0.0 0.0" />
      <material name="upper_right_cabinet_1.003_0.958_0.65_1_surface_0_0_main_color">
        <color rgba="0.4 0.4 0.4 1.0" />
      </material>
    </visual>
    <visual name="upper_right_cabinet_1.003_0.958_0.65_1_top">
      <geometry>
        <box size="0.958 0.63 0.01" />
      </geometry>
      <origin xyz="0.0 0.01 2.0980000000000003" rpy="0.0 -0.0 0.0" />
      <material name="upper_right_cabinet_1.003_0.958_0.65_1_top_main_color">
        <color rgba="0.4 0.4 0.4 1.0" />
      </material>
    </visual>
    <collision name="upper_right_cabinet_1.003_0.958_0.65_1_back">
      <geometry>
        <box size="0.958 0.01 2.0930000000000004" />
      </geometry>
      <origin xyz="0.0 0.32 1.0465000000000002" rpy="0.0 -0.0 0.0" />
    </collision>
    <collision name="upper_right_cabinet_1.003_0.958_0.65_1_left">
      <geometry>
        <box size="0.01 0.62 2.0930000000000004" />
      </geometry>
      <origin xyz="-0.474 0.005 1.0465000000000002" rpy="0.0 -0.0 0.0" />
    </collision>
    <collision name="upper_right_cabinet_1.003_0.958_0.65_1_right">
      <geometry>
        <box size="0.01 0.62 2.0930000000000004" />
      </geometry>
      <origin xyz="0.474 0.005 1.0465000000000002" rpy="0.0 -0.0 0.0" />
    </collision>
    <collision name="upper_right_cabinet_1.003_0.958_0.65_1_shelf_0_0_0">
      <geometry>
        <box size="0.938 0.62 0.01" />
      </geometry>
      <origin xyz="0.0 0.005 1.3986666666666672" rpy="0.0 -0.0 0.0" />
    </collision>
    <collision name="upper_right_cabinet_1.003_0.958_0.65_1_shelf_0_0_1">
      <geometry>
        <box size="0.938 0.62 0.01" />
      </geometry>
      <origin xyz="0.0 0.005 0.7043333333333337" rpy="0.0 -0.0 0.0" />
    </collision>
    <collision name="upper_right_cabinet_1.003_0.958_0.65_1_surface_0_0">
      <geometry>
        <box size="0.938 0.62 0.01" />
      </geometry>
      <origin xyz="0.0 0.005 0.005000000000000231" rpy="0.0 -0.0 0.0" />
    </collision>
    <collision name="upper_right_cabinet_1.003_0.958_0.65_1_top">
      <geometry>
        <box size="0.958 0.63 0.01" />
      </geometry>
      <origin xyz="0.0 0.01 2.0980000000000003" rpy="0.0 -0.0 0.0" />
    </collision>
  </link>
  <link name="upper_right_cabinet_1.003_0.958_0.65_1_door_0_0">
    <inertial>
      <origin xyz="0.0 0.0 0.0" rpy="0.0 -0.0 0.0" />
      <mass value="0.09999999999999998" />
      <inertia ixx="1.0" ixy="0.0" ixz="0.0" iyy="1.0" iyz="0.0" izz="1.0" />
    </inertial>
    <visual><geometry><mesh filename="full_pipeline_simple/upper_right_cabinet_1.003_0.958_0.65_1.obj" /></geometry><material name="upper_right_cabinet_1.003_0.958_0.65_1_door_0_0_material"><color rgba="0.8 0.8 0.8 1.0" /></material></visual><collision><geometry><box size="0.956000 0.168200 2.101000" /></geometry><origin xyz="0.478000 -0.026000 0.000000" rpy="0 0 0" /></collision></link>
  <link name="upper_left_cabinet_1.003_0.958_0.65_2_corpus">
    <inertial>
      <origin xyz="0.0 0.0 0.0" rpy="0.0 -0.0 0.0" />
      <mass value="0.06948634" />
      <inertia ixx="1.0" ixy="0.0" ixz="0.0" iyy="1.0" iyz="0.0" izz="1.0" />
    </inertial>
    <visual name="upper_left_cabinet_1.003_0.958_0.65_2_back">
      <geometry>
        <box size="0.958 0.01 2.0930000000000004" />
      </geometry>
      <origin xyz="0.0 0.32 1.0465000000000002" rpy="0.0 -0.0 0.0" />
      <material name="upper_left_cabinet_1.003_0.958_0.65_2_back_main_color">
        <color rgba="0.4 0.4 0.4 1.0" />
      </material>
    </visual>
    <visual name="upper_left_cabinet_1.003_0.958_0.65_2_left">
      <geometry>
        <box size="0.01 0.62 2.0930000000000004" />
      </geometry>
      <origin xyz="-0.474 0.005 1.0465000000000002" rpy="0.0 -0.0 0.0" />
      <material name="upper_left_cabinet_1.003_0.958_0.65_2_left_main_color">
        <color rgba="0.4 0.4 0.4 1.0" />
      </material>
    </visual>
    <visual name="upper_left_cabinet_1.003_0.958_0.65_2_right">
      <geometry>
        <box size="0.01 0.62 2.0930000000000004" />
      </geometry>
      <origin xyz="0.474 0.005 1.0465000000000002" rpy="0.0 -0.0 0.0" />
      <material name="upper_left_cabinet_1.003_0.958_0.65_2_right_main_color">
        <color rgba="0.4 0.4 0.4 1.0" />
      </material>
    </visual>
    <visual name="upper_left_cabinet_1.003_0.958_0.65_2_shelf_0_0_0">
      <geometry>
        <box size="0.938 0.62 0.01" />
      </geometry>
      <origin xyz="0.0 0.005 1.3986666666666672" rpy="0.0 -0.0 0.0" />
      <material name="upper_left_cabinet_1.003_0.958_0.65_2_shelf_0_0_0_main_color">
        <color rgba="0.4 0.4 0.4 1.0" />
      </material>
    </visual>
    <visual name="upper_left_cabinet_1.003_0.958_0.65_2_shelf_0_0_1">
      <geometry>
        <box size="0.938 0.62 0.01" />
      </geometry>
      <origin xyz="0.0 0.005 0.7043333333333337" rpy="0.0 -0.0 0.0" />
      <material name="upper_left_cabinet_1.003_0.958_0.65_2_shelf_0_0_1_main_color">
        <color rgba="0.4 0.4 0.4 1.0" />
      </material>
    </visual>
    <visual name="upper_left_cabinet_1.003_0.958_0.65_2_surface_0_0">
      <geometry>
        <box size="0.938 0.62 0.01" />
      </geometry>
      <origin xyz="0.0 0.005 0.005000000000000231" rpy="0.0 -0.0 0.0" />
      <material name="upper_left_cabinet_1.003_0.958_0.65_2_surface_0_0_main_color">
        <color rgba="0.4 0.4 0.4 1.0" />
      </material>
    </visual>
    <visual name="upper_left_cabinet_1.003_0.958_0.65_2_top">
      <geometry>
        <box size="0.958 0.63 0.01" />
      </geometry>
      <origin xyz="0.0 0.01 2.0980000000000003" rpy="0.0 -0.0 0.0" />
      <material name="upper_left_cabinet_1.003_0.958_0.65_2_top_main_color">
        <color rgba="0.4 0.4 0.4 1.0" />
      </material>
    </visual>
    <collision name="upper_left_cabinet_1.003_0.958_0.65_2_back">
      <geometry>
        <box size="0.958 0.01 2.0930000000000004" />
      </geometry>
      <origin xyz="0.0 0.32 1.0465000000000002" rpy="0.0 -0.0 0.0" />
    </collision>
    <collision name="upper_left_cabinet_1.003_0.958_0.65_2_left">
      <geometry>
        <box size="0.01 0.62 2.0930000000000004" />
      </geometry>
      <origin xyz="-0.474 0.005 1.0465000000000002" rpy="0.0 -0.0 0.0" />
    </collision>
    <collision name="upper_left_cabinet_1.003_0.958_0.65_2_right">
      <geometry>
        <box size="0.01 0.62 2.0930000000000004" />
      </geometry>
      <origin xyz="0.474 0.005 1.0465000000000002" rpy="0.0 -0.0 0.0" />
    </collision>
    <collision name="upper_left_cabinet_1.003_0.958_0.65_2_shelf_0_0_0">
      <geometry>
        <box size="0.938 0.62 0.01" />
      </geometry>
      <origin xyz="0.0 0.005 1.3986666666666672" rpy="0.0 -0.0 0.0" />
    </collision>
    <collision name="upper_left_cabinet_1.003_0.958_0.65_2_shelf_0_0_1">
      <geometry>
        <box size="0.938 0.62 0.01" />
      </geometry>
      <origin xyz="0.0 0.005 0.7043333333333337" rpy="0.0 -0.0 0.0" />
    </collision>
    <collision name="upper_left_cabinet_1.003_0.958_0.65_2_surface_0_0">
      <geometry>
        <box size="0.938 0.62 0.01" />
      </geometry>
      <origin xyz="0.0 0.005 0.005000000000000231" rpy="0.0 -0.0 0.0" />
    </collision>
    <collision name="upper_left_cabinet_1.003_0.958_0.65_2_top">
      <geometry>
        <box size="0.958 0.63 0.01" />
      </geometry>
      <origin xyz="0.0 0.01 2.0980000000000003" rpy="0.0 -0.0 0.0" />
    </collision>
  </link>
  <link name="upper_left_cabinet_1.003_0.958_0.65_2_door_0_0">
    <inertial>
      <origin xyz="0.0 0.0 0.0" rpy="0.0 -0.0 0.0" />
      <mass value="0.09999999999999998" />
      <inertia ixx="1.0" ixy="0.0" ixz="0.0" iyy="1.0" iyz="0.0" izz="1.0" />
    </inertial>
    <visual><geometry><mesh filename="full_pipeline_simple/upper_left_cabinet_1.003_0.958_0.65_2.obj" /></geometry><material name="upper_left_cabinet_1.003_0.958_0.65_2_door_0_0_material"><color rgba="0.8 0.8 0.8 1.0" /></material></visual><collision><geometry><box size="0.956000 0.168200 2.101000" /></geometry><origin xyz="-0.478000 -0.026000 0.000000" rpy="0 0 0" /></collision></link>
  <link name="upper_right_cabinet_1.003_0.958_0.65_2_corpus">
    <inertial>
      <origin xyz="0.0 0.0 0.0" rpy="0.0 -0.0 0.0" />
      <mass value="0.06948634" />
      <inertia ixx="1.0" ixy="0.0" ixz="0.0" iyy="1.0" iyz="0.0" izz="1.0" />
    </inertial>
    <visual name="upper_right_cabinet_1.003_0.958_0.65_2_back">
      <geometry>
        <box size="0.958 0.01 2.0930000000000004" />
      </geometry>
      <origin xyz="0.0 0.32 1.0465000000000002" rpy="0.0 -0.0 0.0" />
      <material name="upper_right_cabinet_1.003_0.958_0.65_2_back_main_color">
        <color rgba="0.4 0.4 0.4 1.0" />
      </material>
    </visual>
    <visual name="upper_right_cabinet_1.003_0.958_0.65_2_left">
      <geometry>
        <box size="0.01 0.62 2.0930000000000004" />
      </geometry>
      <origin xyz="-0.474 0.005 1.0465000000000002" rpy="0.0 -0.0 0.0" />
      <material name="upper_right_cabinet_1.003_0.958_0.65_2_left_main_color">
        <color rgba="0.4 0.4 0.4 1.0" />
      </material>
    </visual>
    <visual name="upper_right_cabinet_1.003_0.958_0.65_2_right">
      <geometry>
        <box size="0.01 0.62 2.0930000000000004" />
      </geometry>
      <origin xyz="0.474 0.005 1.0465000000000002" rpy="0.0 -0.0 0.0" />
      <material name="upper_right_cabinet_1.003_0.958_0.65_2_right_main_color">
        <color rgba="0.4 0.4 0.4 1.0" />
      </material>
    </visual>
    <visual name="upper_right_cabinet_1.003_0.958_0.65_2_shelf_0_0_0">
      <geometry>
        <box size="0.938 0.62 0.01" />
      </geometry>
      <origin xyz="0.0 0.005 1.3986666666666672" rpy="0.0 -0.0 0.0" />
      <material name="upper_right_cabinet_1.003_0.958_0.65_2_shelf_0_0_0_main_color">
        <color rgba="0.4 0.4 0.4 1.0" />
      </material>
    </visual>
    <visual name="upper_right_cabinet_1.003_0.958_0.65_2_shelf_0_0_1">
      <geometry>
        <box size="0.938 0.62 0.01" />
      </geometry>
      <origin xyz="0.0 0.005 0.7043333333333337" rpy="0.0 -0.0 0.0" />
      <material name="upper_right_cabinet_1.003_0.958_0.65_2_shelf_0_0_1_main_color">
        <color rgba="0.4 0.4 0.4 1.0" />
      </material>
    </visual>
    <visual name="upper_right_cabinet_1.003_0.958_0.65_2_surface_0_0">
      <geometry>
        <box size="0.938 0.62 0.01" />
      </geometry>
      <origin xyz="0.0 0.005 0.005000000000000231" rpy="0.0 -0.0 0.0" />
      <material name="upper_right_cabinet_1.003_0.958_0.65_2_surface_0_0_main_color">
        <color rgba="0.4 0.4 0.4 1.0" />
      </material>
    </visual>
    <visual name="upper_right_cabinet_1.003_0.958_0.65_2_top">
      <geometry>
        <box size="0.958 0.63 0.01" />
      </geometry>
      <origin xyz="0.0 0.01 2.0980000000000003" rpy="0.0 -0.0 0.0" />
      <material name="upper_right_cabinet_1.003_0.958_0.65_2_top_main_color">
        <color rgba="0.4 0.4 0.4 1.0" />
      </material>
    </visual>
    <collision name="upper_right_cabinet_1.003_0.958_0.65_2_back">
      <geometry>
        <box size="0.958 0.01 2.0930000000000004" />
      </geometry>
      <origin xyz="0.0 0.32 1.0465000000000002" rpy="0.0 -0.0 0.0" />
    </collision>
    <collision name="upper_right_cabinet_1.003_0.958_0.65_2_left">
      <geometry>
        <box size="0.01 0.62 2.0930000000000004" />
      </geometry>
      <origin xyz="-0.474 0.005 1.0465000000000002" rpy="0.0 -0.0 0.0" />
    </collision>
    <collision name="upper_right_cabinet_1.003_0.958_0.65_2_right">
      <geometry>
        <box size="0.01 0.62 2.0930000000000004" />
      </geometry>
      <origin xyz="0.474 0.005 1.0465000000000002" rpy="0.0 -0.0 0.0" />
    </collision>
    <collision name="upper_right_cabinet_1.003_0.958_0.65_2_shelf_0_0_0">
      <geometry>
        <box size="0.938 0.62 0.01" />
      </geometry>
      <origin xyz="0.0 0.005 1.3986666666666672" rpy="0.0 -0.0 0.0" />
    </collision>
    <collision name="upper_right_cabinet_1.003_0.958_0.65_2_shelf_0_0_1">
      <geometry>
        <box size="0.938 0.62 0.01" />
      </geometry>
      <origin xyz="0.0 0.005 0.7043333333333337" rpy="0.0 -0.0 0.0" />
    </collision>
    <collision name="upper_right_cabinet_1.003_0.958_0.65_2_surface_0_0">
      <geometry>
        <box size="0.938 0.62 0.01" />
      </geometry>
      <origin xyz="0.0 0.005 0.005000000000000231" rpy="0.0 -0.0 0.0" />
    </collision>
    <collision name="upper_right_cabinet_1.003_0.958_0.65_2_top">
      <geometry>
        <box size="0.958 0.63 0.01" />
      </geometry>
      <origin xyz="0.0 0.01 2.0980000000000003" rpy="0.0 -0.0 0.0" />
    </collision>
  </link>
  <link name="upper_right_cabinet_1.003_0.958_0.65_2_door_0_0">
    <inertial>
      <origin xyz="0.0 0.0 0.0" rpy="0.0 -0.0 0.0" />
      <mass value="0.09999999999999998" />
      <inertia ixx="1.0" ixy="0.0" ixz="0.0" iyy="1.0" iyz="0.0" izz="1.0" />
    </inertial>
    <visual><geometry><mesh filename="full_pipeline_simple/upper_right_cabinet_1.003_0.958_0.65_2.obj" /></geometry><material name="upper_right_cabinet_1.003_0.958_0.65_2_door_0_0_material"><color rgba="0.8 0.8 0.8 1.0" /></material></visual><collision><geometry><box size="0.956000 0.168200 2.101000" /></geometry><origin xyz="0.478000 -0.026000 0.000000" rpy="0 0 0" /></collision></link>
  <link name="upper_left_cabinet_1.003_0.958_0.65_3_corpus">
    <inertial>
      <origin xyz="0.0 0.0 0.0" rpy="0.0 -0.0 0.0" />
      <mass value="0.06948634" />
      <inertia ixx="1.0" ixy="0.0" ixz="0.0" iyy="1.0" iyz="0.0" izz="1.0" />
    </inertial>
    <visual name="upper_left_cabinet_1.003_0.958_0.65_3_back">
      <geometry>
        <box size="0.958 0.01 2.0930000000000004" />
      </geometry>
      <origin xyz="0.0 0.32 1.0465000000000002" rpy="0.0 -0.0 0.0" />
      <material name="upper_left_cabinet_1.003_0.958_0.65_3_back_main_color">
        <color rgba="0.4 0.4 0.4 1.0" />
      </material>
    </visual>
    <visual name="upper_left_cabinet_1.003_0.958_0.65_3_left">
      <geometry>
        <box size="0.01 0.62 2.0930000000000004" />
      </geometry>
      <origin xyz="-0.474 0.005 1.0465000000000002" rpy="0.0 -0.0 0.0" />
      <material name="upper_left_cabinet_1.003_0.958_0.65_3_left_main_color">
        <color rgba="0.4 0.4 0.4 1.0" />
      </material>
    </visual>
    <visual name="upper_left_cabinet_1.003_0.958_0.65_3_right">
      <geometry>
        <box size="0.01 0.62 2.0930000000000004" />
      </geometry>
      <origin xyz="0.474 0.005 1.0465000000000002" rpy="0.0 -0.0 0.0" />
      <material name="upper_left_cabinet_1.003_0.958_0.65_3_right_main_color">
        <color rgba="0.4 0.4 0.4 1.0" />
      </material>
    </visual>
    <visual name="upper_left_cabinet_1.003_0.958_0.65_3_shelf_0_0_0">
      <geometry>
        <box size="0.938 0.62 0.01" />
      </geometry>
      <origin xyz="0.0 0.005 1.3986666666666672" rpy="0.0 -0.0 0.0" />
      <material name="upper_left_cabinet_1.003_0.958_0.65_3_shelf_0_0_0_main_color">
        <color rgba="0.4 0.4 0.4 1.0" />
      </material>
    </visual>
    <visual name="upper_left_cabinet_1.003_0.958_0.65_3_shelf_0_0_1">
      <geometry>
        <box size="0.938 0.62 0.01" />
      </geometry>
      <origin xyz="0.0 0.005 0.7043333333333337" rpy="0.0 -0.0 0.0" />
      <material name="upper_left_cabinet_1.003_0.958_0.65_3_shelf_0_0_1_main_color">
        <color rgba="0.4 0.4 0.4 1.0" />
      </material>
    </visual>
    <visual name="upper_left_cabinet_1.003_0.958_0.65_3_surface_0_0">
      <geometry>
        <box size="0.938 0.62 0.01" />
      </geometry>
      <origin xyz="0.0 0.005 0.005000000000000231" rpy="0.0 -0.0 0.0" />
      <material name="upper_left_cabinet_1.003_0.958_0.65_3_surface_0_0_main_color">
        <color rgba="0.4 0.4 0.4 1.0" />
      </material>
    </visual>
    <visual name="upper_left_cabinet_1.003_0.958_0.65_3_top">
      <geometry>
        <box size="0.958 0.63 0.01" />
      </geometry>
      <origin xyz="0.0 0.01 2.0980000000000003" rpy="0.0 -0.0 0.0" />
      <material name="upper_left_cabinet_1.003_0.958_0.65_3_top_main_color">
        <color rgba="0.4 0.4 0.4 1.0" />
      </material>
    </visual>
    <collision name="upper_left_cabinet_1.003_0.958_0.65_3_back">
      <geometry>
        <box size="0.958 0.01 2.0930000000000004" />
      </geometry>
      <origin xyz="0.0 0.32 1.0465000000000002" rpy="0.0 -0.0 0.0" />
    </collision>
    <collision name="upper_left_cabinet_1.003_0.958_0.65_3_left">
      <geometry>
        <box size="0.01 0.62 2.0930000000000004" />
      </geometry>
      <origin xyz="-0.474 0.005 1.0465000000000002" rpy="0.0 -0.0 0.0" />
    </collision>
    <collision name="upper_left_cabinet_1.003_0.958_0.65_3_right">
      <geometry>
        <box size="0.01 0.62 2.0930000000000004" />
      </geometry>
      <origin xyz="0.474 0.005 1.0465000000000002" rpy="0.0 -0.0 0.0" />
    </collision>
    <collision name="upper_left_cabinet_1.003_0.958_0.65_3_shelf_0_0_0">
      <geometry>
        <box size="0.938 0.62 0.01" />
      </geometry>
      <origin xyz="0.0 0.005 1.3986666666666672" rpy="0.0 -0.0 0.0" />
    </collision>
    <collision name="upper_left_cabinet_1.003_0.958_0.65_3_shelf_0_0_1">
      <geometry>
        <box size="0.938 0.62 0.01" />
      </geometry>
      <origin xyz="0.0 0.005 0.7043333333333337" rpy="0.0 -0.0 0.0" />
    </collision>
    <collision name="upper_left_cabinet_1.003_0.958_0.65_3_surface_0_0">
      <geometry>
        <box size="0.938 0.62 0.01" />
      </geometry>
      <origin xyz="0.0 0.005 0.005000000000000231" rpy="0.0 -0.0 0.0" />
    </collision>
    <collision name="upper_left_cabinet_1.003_0.958_0.65_3_top">
      <geometry>
        <box size="0.958 0.63 0.01" />
      </geometry>
      <origin xyz="0.0 0.01 2.0980000000000003" rpy="0.0 -0.0 0.0" />
    </collision>
  </link>
  <link name="upper_left_cabinet_1.003_0.958_0.65_3_door_0_0">
    <inertial>
      <origin xyz="0.0 0.0 0.0" rpy="0.0 -0.0 0.0" />
      <mass value="0.09999999999999998" />
      <inertia ixx="1.0" ixy="0.0" ixz="0.0" iyy="1.0" iyz="0.0" izz="1.0" />
    </inertial>
    <visual><geometry><mesh filename="full_pipeline_simple/upper_left_cabinet_1.003_0.958_0.65_3.obj" /></geometry><material name="upper_left_cabinet_1.003_0.958_0.65_3_door_0_0_material"><color rgba="0.8 0.8 0.8 1.0" /></material></visual><collision><geometry><box size="0.956000 0.168200 2.101000" /></geometry><origin xyz="-0.478000 -0.026000 0.000000" rpy="0 0 0" /></collision></link>
  <link name="upper_right_cabinet_1.003_0.958_0.65_3_corpus">
    <inertial>
      <origin xyz="0.0 0.0 0.0" rpy="0.0 -0.0 0.0" />
      <mass value="0.06948634" />
      <inertia ixx="1.0" ixy="0.0" ixz="0.0" iyy="1.0" iyz="0.0" izz="1.0" />
    </inertial>
    <visual name="upper_right_cabinet_1.003_0.958_0.65_3_back">
      <geometry>
        <box size="0.958 0.01 2.0930000000000004" />
      </geometry>
      <origin xyz="0.0 0.32 1.0465000000000002" rpy="0.0 -0.0 0.0" />
      <material name="upper_right_cabinet_1.003_0.958_0.65_3_back_main_color">
        <color rgba="0.4 0.4 0.4 1.0" />
      </material>
    </visual>
    <visual name="upper_right_cabinet_1.003_0.958_0.65_3_left">
      <geometry>
        <box size="0.01 0.62 2.0930000000000004" />
      </geometry>
      <origin xyz="-0.474 0.005 1.0465000000000002" rpy="0.0 -0.0 0.0" />
      <material name="upper_right_cabinet_1.003_0.958_0.65_3_left_main_color">
        <color rgba="0.4 0.4 0.4 1.0" />
      </material>
    </visual>
    <visual name="upper_right_cabinet_1.003_0.958_0.65_3_right">
      <geometry>
        <box size="0.01 0.62 2.0930000000000004" />
      </geometry>
      <origin xyz="0.474 0.005 1.0465000000000002" rpy="0.0 -0.0 0.0" />
      <material name="upper_right_cabinet_1.003_0.958_0.65_3_right_main_color">
        <color rgba="0.4 0.4 0.4 1.0" />
      </material>
    </visual>
    <visual name="upper_right_cabinet_1.003_0.958_0.65_3_shelf_0_0_0">
      <geometry>
        <box size="0.938 0.62 0.01" />
      </geometry>
      <origin xyz="0.0 0.005 1.3986666666666672" rpy="0.0 -0.0 0.0" />
      <material name="upper_right_cabinet_1.003_0.958_0.65_3_shelf_0_0_0_main_color">
        <color rgba="0.4 0.4 0.4 1.0" />
      </material>
    </visual>
    <visual name="upper_right_cabinet_1.003_0.958_0.65_3_shelf_0_0_1">
      <geometry>
        <box size="0.938 0.62 0.01" />
      </geometry>
      <origin xyz="0.0 0.005 0.7043333333333337" rpy="0.0 -0.0 0.0" />
      <material name="upper_right_cabinet_1.003_0.958_0.65_3_shelf_0_0_1_main_color">
        <color rgba="0.4 0.4 0.4 1.0" />
      </material>
    </visual>
    <visual name="upper_right_cabinet_1.003_0.958_0.65_3_surface_0_0">
      <geometry>
        <box size="0.938 0.62 0.01" />
      </geometry>
      <origin xyz="0.0 0.005 0.005000000000000231" rpy="0.0 -0.0 0.0" />
      <material name="upper_right_cabinet_1.003_0.958_0.65_3_surface_0_0_main_color">
        <color rgba="0.4 0.4 0.4 1.0" />
      </material>
    </visual>
    <visual name="upper_right_cabinet_1.003_0.958_0.65_3_top">
      <geometry>
        <box size="0.958 0.63 0.01" />
      </geometry>
      <origin xyz="0.0 0.01 2.0980000000000003" rpy="0.0 -0.0 0.0" />
      <material name="upper_right_cabinet_1.003_0.958_0.65_3_top_main_color">
        <color rgba="0.4 0.4 0.4 1.0" />
      </material>
    </visual>
    <collision name="upper_right_cabinet_1.003_0.958_0.65_3_back">
      <geometry>
        <box size="0.958 0.01 2.0930000000000004" />
      </geometry>
      <origin xyz="0.0 0.32 1.0465000000000002" rpy="0.0 -0.0 0.0" />
    </collision>
    <collision name="upper_right_cabinet_1.003_0.958_0.65_3_left">
      <geometry>
        <box size="0.01 0.62 2.0930000000000004" />
      </geometry>
      <origin xyz="-0.474 0.005 1.0465000000000002" rpy="0.0 -0.0 0.0" />
    </collision>
    <collision name="upper_right_cabinet_1.003_0.958_0.65_3_right">
      <geometry>
        <box size="0.01 0.62 2.0930000000000004" />
      </geometry>
      <origin xyz="0.474 0.005 1.0465000000000002" rpy="0.0 -0.0 0.0" />
    </collision>
    <collision name="upper_right_cabinet_1.003_0.958_0.65_3_shelf_0_0_0">
      <geometry>
        <box size="0.938 0.62 0.01" />
      </geometry>
      <origin xyz="0.0 0.005 1.3986666666666672" rpy="0.0 -0.0 0.0" />
    </collision>
    <collision name="upper_right_cabinet_1.003_0.958_0.65_3_shelf_0_0_1">
      <geometry>
        <box size="0.938 0.62 0.01" />
      </geometry>
      <origin xyz="0.0 0.005 0.7043333333333337" rpy="0.0 -0.0 0.0" />
    </collision>
    <collision name="upper_right_cabinet_1.003_0.958_0.65_3_surface_0_0">
      <geometry>
        <box size="0.938 0.62 0.01" />
      </geometry>
      <origin xyz="0.0 0.005 0.005000000000000231" rpy="0.0 -0.0 0.0" />
    </collision>
    <collision name="upper_right_cabinet_1.003_0.958_0.65_3_top">
      <geometry>
        <box size="0.958 0.63 0.01" />
      </geometry>
      <origin xyz="0.0 0.01 2.0980000000000003" rpy="0.0 -0.0 0.0" />
    </collision>
  </link>
  <link name="upper_right_cabinet_1.003_0.958_0.65_3_door_0_0">
    <inertial>
      <origin xyz="0.0 0.0 0.0" rpy="0.0 -0.0 0.0" />
      <mass value="0.09999999999999998" />
      <inertia ixx="1.0" ixy="0.0" ixz="0.0" iyy="1.0" iyz="0.0" izz="1.0" />
    </inertial>
    <visual><geometry><mesh filename="full_pipeline_simple/upper_right_cabinet_1.003_0.958_0.65_3.obj" /></geometry><material name="upper_right_cabinet_1.003_0.958_0.65_3_door_0_0_material"><color rgba="0.8 0.8 0.8 1.0" /></material></visual><collision><geometry><box size="0.956000 0.168200 2.101000" /></geometry><origin xyz="0.478000 -0.026000 0.000000" rpy="0 0 0" /></collision></link>
  <link name="double_drawer_0.611_1.916_0.998_corpus">
    <inertial>
      <origin xyz="0.0 0.0 0.0" rpy="0.0 -0.0 0.0" />
      <mass value="0.11871535999999999" />
      <inertia ixx="1.0" ixy="0.0" ixz="0.0" iyy="1.0" iyz="0.0" izz="1.0" />
    </inertial>
    <visual name="double_drawer_0.611_1.916_0.998_back">
      <geometry>
        <box size="1.916 0.02 0.591" />
      </geometry>
      <origin xyz="0.0 0.489 0.2955" rpy="0.0 -0.0 0.0" />
      <material name="double_drawer_0.611_1.916_0.998_back_main_color">
        <color rgba="0.4 0.4 0.4 1.0" />
      </material>
    </visual>
    <visual name="double_drawer_0.611_1.916_0.998_left">
      <geometry>
        <box size="0.02 0.958 0.591" />
      </geometry>
      <origin xyz="-0.948 0.0 0.2955" rpy="0.0 -0.0 0.0" />
      <material name="double_drawer_0.611_1.916_0.998_left_main_color">
        <color rgba="0.4 0.4 0.4 1.0" />
      </material>
    </visual>
    <visual name="double_drawer_0.611_1.916_0.998_right">
      <geometry>
        <box size="0.02 0.958 0.591" />
      </geometry>
      <origin xyz="0.948 0.0 0.2955" rpy="0.0 -0.0 0.0" />
      <material name="double_drawer_0.611_1.916_0.998_right_main_color">
        <color rgba="0.4 0.4 0.4 1.0" />
      </material>
    </visual>
    <visual name="double_drawer_0.611_1.916_0.998_surface_0_0">
      <geometry>
        <box size="1.876 0.958 0.02" />
      </geometry>
      <origin xyz="0.0 0.0 0.010000000000000018" rpy="0.0 -0.0 0.0" />
      <material name="double_drawer_0.611_1.916_0.998_surface_0_0_main_color">
        <color rgba="0.4 0.4 0.4 1.0" />
      </material>
    </visual>
    <visual name="double_drawer_0.611_1.916_0.998_top">
      <geometry>
        <box size="1.916 0.978 0.02" />
      </geometry>
      <origin xyz="0.0 0.01 0.601" rpy="0.0 -0.0 0.0" />
      <material name="double_drawer_0.611_1.916_0.998_top_main_color">
        <color rgba="0.4 0.4 0.4 1.0" />
      </material>
    </visual>
    <collision name="double_drawer_0.611_1.916_0.998_back">
      <geometry>
        <box size="1.916 0.02 0.591" />
      </geometry>
      <origin xyz="0.0 0.489 0.2955" rpy="0.0 -0.0 0.0" />
    </collision>
    <collision name="double_drawer_0.611_1.916_0.998_left">
      <geometry>
        <box size="0.02 0.958 0.591" />
      </geometry>
      <origin xyz="-0.948 0.0 0.2955" rpy="0.0 -0.0 0.0" />
    </collision>
    <collision name="double_drawer_0.611_1.916_0.998_right">
      <geometry>
        <box size="0.02 0.958 0.591" />
      </geometry>
      <origin xyz="0.948 0.0 0.2955" rpy="0.0 -0.0 0.0" />
    </collision>
    <collision name="double_drawer_0.611_1.916_0.998_surface_0_0">
      <geometry>
        <box size="1.876 0.958 0.02" />
      </geometry>
      <origin xyz="0.0 0.0 0.010000000000000018" rpy="0.0 -0.0 0.0" />
    </collision>
    <collision name="double_drawer_0.611_1.916_0.998_top">
      <geometry>
        <box size="1.916 0.978 0.02" />
      </geometry>
      <origin xyz="0.0 0.01 0.601" rpy="0.0 -0.0 0.0" />
    </collision>
  </link>
  <link name="double_drawer_0.611_1.916_0.998_drawer_0_0">
    <inertial>
      <origin xyz="0.0 0.0 0.0" rpy="0.0 -0.0 0.0" />
      <mass value="0.10000000000000002" />
      <inertia ixx="1.0" ixy="0.0" ixz="0.0" iyy="1.0" iyz="0.0" izz="1.0" />
    </inertial>
    <visual><geometry><mesh filename="full_pipeline_simple/double_drawer_0.611_1.916_0.998.obj" /></geometry><material name="double_drawer_0.611_1.916_0.998_drawer_0_0_material"><color rgba="0.8 0.8 0.8 1.0" /></material></visual><collision><geometry><box size="1.912000 0.990300 0.607000" /></geometry><origin xyz="0.000000 0.365050 0.000000" rpy="0 0 0" /></collision></link>
  <link name="world" />
  <link name="drawer_0.333_0.958_0.998_0" />
  <link name="drawer_0.333_0.958_0.998_1" />
  <link name="lower_left_cabinet_1.003_0.958_0.998_0" />
  <link name="lower_right_cabinet_1.003_0.958_0.998_0" />
  <link name="drawer_0.333_0.958_0.998_2" />
  <link name="drawer_0.333_0.958_0.998_3" />
  <link name="lower_left_cabinet_1.003_0.958_0.998_1" />
  <link name="lower_right_cabinet_1.003_0.958_0.998_1" />
  <link name="drawer_0.333_0.958_0.998_4" />
  <link name="drawer_0.333_0.958_0.998_5" />
  <link name="lower_left_cabinet_1.003_0.958_0.998_2" />
  <link name="lower_right_cabinet_1.003_0.958_0.998_2" />
  <link name="upper_left_cabinet_1.003_0.958_0.65_0" />
  <link name="upper_right_cabinet_1.003_0.958_0.65_0" />
  <link name="upper_left_cabinet_1.003_0.958_0.65_1" />
  <link name="upper_right_cabinet_1.003_0.958_0.65_1" />
  <link name="upper_left_cabinet_1.003_0.958_0.65_2" />
  <link name="upper_right_cabinet_1.003_0.958_0.65_2" />
  <link name="upper_left_cabinet_1.003_0.958_0.65_3" />
  <link name="upper_right_cabinet_1.003_0.958_0.65_3" />
  <link name="double_drawer_0.611_1.916_0.998" />
  <joint name="drawer_0.333_0.958_0.998_0_world_fixed_joint" type="fixed">
    <parent link="world" />
    <child link="drawer_0.333_0.958_0.998_0" />
    <origin xyz="0.0 0.0 0.0" rpy="0.0 -0.0 0.0" />
  </joint>
  <joint name="drawer_0.333_0.958_0.998_0_corpus_to_drawer_0_0" type="prismatic">
    <parent link="drawer_0.333_0.958_0.998_0_corpus" />
    <child link="drawer_0.333_0.958_0.998_0_drawer_0_0" />
    <origin xyz="0.0 -0.479 0.16649999999999998" rpy="0.0 -0.0 0.0" />
    <axis xyz="0 -1 0" />
    <limit effort="1000.0" velocity="1.0" lower="0.0" upper="0.79218" />
  </joint>
  <joint name="drawer_0.333_0.958_0.998_0_origin_joint" type="fixed">
    <parent link="drawer_0.333_0.958_0.998_0" />
    <child link="drawer_0.333_0.958_0.998_0_corpus" />
    <origin xyz="0.0 0.0 0.0" rpy="0.0 -0.0 0.0" />
  </joint>
  <joint name="drawer_0.333_0.958_0.998_1_world_fixed_joint" type="fixed">
    <parent link="world" />
    <child link="drawer_0.333_0.958_0.998_1" />
    <origin xyz="0.958 0.0 0.0" rpy="0.0 -0.0 0.0" />
  </joint>
  <joint name="drawer_0.333_0.958_0.998_1_corpus_to_drawer_0_0" type="prismatic">
    <parent link="drawer_0.333_0.958_0.998_1_corpus" />
    <child link="drawer_0.333_0.958_0.998_1_drawer_0_0" />
    <origin xyz="0.0 -0.479 0.16649999999999998" rpy="0.0 -0.0 0.0" />
    <axis xyz="0 -1 0" />
    <limit effort="1000.0" velocity="1.0" lower="0.0" upper="0.79218" />
  </joint>
  <joint name="drawer_0.333_0.958_0.998_1_origin_joint" type="fixed">
    <parent link="drawer_0.333_0.958_0.998_1" />
    <child link="drawer_0.333_0.958_0.998_1_corpus" />
    <origin xyz="0.0 0.0 0.0" rpy="0.0 -0.0 0.0" />
  </joint>
  <joint name="lower_left_cabinet_1.003_0.958_0.998_0_world_fixed_joint" type="fixed">
    <parent link="world" />
    <child link="lower_left_cabinet_1.003_0.958_0.998_0" />
    <origin xyz="0.958 0.0 -1.003" rpy="0.0 -0.0 0.0" />
  </joint>
  <joint name="lower_left_cabinet_1.003_0.958_0.998_0_corpus_to_door_0_0" type="revolute">
    <parent link="lower_left_cabinet_1.003_0.958_0.998_0_corpus" />
    <child link="lower_left_cabinet_1.003_0.958_0.998_0_door_0_0" />
    <origin xyz="0.477 -0.499 0.5015" rpy="0.0 -0.0 0.0" />
    <axis xyz="0 0 1" />
    <limit effort="1000.0" velocity="0.1" lower="0.0" upper="1.5707963267948966" />
  </joint>
  <joint name="lower_left_cabinet_1.003_0.958_0.998_0_origin_joint" type="fixed">
    <parent link="lower_left_cabinet_1.003_0.958_0.998_0" />
    <child link="lower_left_cabinet_1.003_0.958_0.998_0_corpus" />
    <origin xyz="0.0 0.0 0.0" rpy="0.0 -0.0 0.0" />
  </joint>
  <joint name="lower_right_cabinet_1.003_0.958_0.998_0_world_fixed_joint" type="fixed">
    <parent link="world" />
    <child link="lower_right_cabinet_1.003_0.958_0.998_0" />
    <origin xyz="0.0 0.0 -1.003" rpy="0.0 -0.0 0.0" />
  </joint>
  <joint name="lower_right_cabinet_1.003_0.958_0.998_0_corpus_to_door_0_0" type="revolute">
    <parent link="lower_right_cabinet_1.003_0.958_0.998_0_corpus" />
    <child link="lower_right_cabinet_1.003_0.958_0.998_0_door_0_0" />
    <origin xyz="-0.477 -0.499 0.5015" rpy="0.0 -0.0 0.0" />
    <axis xyz="0 0 -1" />
    <limit effort="1000.0" velocity="0.1" lower="0.0" upper="1.5707963267948966" />
  </joint>
  <joint name="lower_right_cabinet_1.003_0.958_0.998_0_origin_joint" type="fixed">
    <parent link="lower_right_cabinet_1.003_0.958_0.998_0" />
    <child link="lower_right_cabinet_1.003_0.958_0.998_0_corpus" />
    <origin xyz="0.0 0.0 0.0" rpy="0.0 -0.0 0.0" />
  </joint>
  <joint name="drawer_0.333_0.958_0.998_2_world_fixed_joint" type="fixed">
    <parent link="world" />
    <child link="drawer_0.333_0.958_0.998_2" />
    <origin xyz="1.916 0.0 0.0" rpy="0.0 -0.0 0.0" />
  </joint>
  <joint name="drawer_0.333_0.958_0.998_2_corpus_to_drawer_0_0" type="prismatic">
    <parent link="drawer_0.333_0.958_0.998_2_corpus" />
    <child link="drawer_0.333_0.958_0.998_2_drawer_0_0" />
    <origin xyz="0.0 -0.479 0.16649999999999998" rpy="0.0 -0.0 0.0" />
    <axis xyz="0 -1 0" />
    <limit effort="1000.0" velocity="1.0" lower="0.0" upper="0.79218" />
  </joint>
  <joint name="drawer_0.333_0.958_0.998_2_origin_joint" type="fixed">
    <parent link="drawer_0.333_0.958_0.998_2" />
    <child link="drawer_0.333_0.958_0.998_2_corpus" />
    <origin xyz="0.0 0.0 0.0" rpy="0.0 -0.0 0.0" />
  </joint>
  <joint name="drawer_0.333_0.958_0.998_3_world_fixed_joint" type="fixed">
    <parent link="world" />
    <child link="drawer_0.333_0.958_0.998_3" />
    <origin xyz="2.874 0.0 0.0" rpy="0.0 -0.0 0.0" />
  </joint>
  <joint name="drawer_0.333_0.958_0.998_3_corpus_to_drawer_0_0" type="prismatic">
    <parent link="drawer_0.333_0.958_0.998_3_corpus" />
    <child link="drawer_0.333_0.958_0.998_3_drawer_0_0" />
    <origin xyz="0.0 -0.479 0.16649999999999998" rpy="0.0 -0.0 0.0" />
    <axis xyz="0 -1 0" />
    <limit effort="1000.0" velocity="1.0" lower="0.0" upper="0.79218" />
  </joint>
  <joint name="drawer_0.333_0.958_0.998_3_origin_joint" type="fixed">
    <parent link="drawer_0.333_0.958_0.998_3" />
    <child link="drawer_0.333_0.958_0.998_3_corpus" />
    <origin xyz="0.0 0.0 0.0" rpy="0.0 -0.0 0.0" />
  </joint>
  <joint name="lower_left_cabinet_1.003_0.958_0.998_1_world_fixed_joint" type="fixed">
    <parent link="world" />
    <child link="lower_left_cabinet_1.003_0.958_0.998_1" />
    <origin xyz="2.874 0.0 -1.003" rpy="0.0 -0.0 0.0" />
  </joint>
  <joint name="lower_left_cabinet_1.003_0.958_0.998_1_corpus_to_door_0_0" type="revolute">
    <parent link="lower_left_cabinet_1.003_0.958_0.998_1_corpus" />
    <child link="lower_left_cabinet_1.003_0.958_0.998_1_door_0_0" />
    <origin xyz="0.477 -0.499 0.5015" rpy="0.0 -0.0 0.0" />
    <axis xyz="0 0 1" />
    <limit effort="1000.0" velocity="0.1" lower="0.0" upper="1.5707963267948966" />
  </joint>
  <joint name="lower_left_cabinet_1.003_0.958_0.998_1_origin_joint" type="fixed">
    <parent link="lower_left_cabinet_1.003_0.958_0.998_1" />
    <child link="lower_left_cabinet_1.003_0.958_0.998_1_corpus" />
    <origin xyz="0.0 0.0 0.0" rpy="0.0 -0.0 0.0" />
  </joint>
  <joint name="lower_right_cabinet_1.003_0.958_0.998_1_world_fixed_joint" type="fixed">
    <parent link="world" />
    <child link="lower_right_cabinet_1.003_0.958_0.998_1" />
    <origin xyz="1.916 0.0 -1.003" rpy="0.0 -0.0 0.0" />
  </joint>
  <joint name="lower_right_cabinet_1.003_0.958_0.998_1_corpus_to_door_0_0" type="revolute">
    <parent link="lower_right_cabinet_1.003_0.958_0.998_1_corpus" />
    <child link="lower_right_cabinet_1.003_0.958_0.998_1_door_0_0" />
    <origin xyz="-0.477 -0.499 0.5015" rpy="0.0 -0.0 0.0" />
    <axis xyz="0 0 -1" />
    <limit effort="1000.0" velocity="0.1" lower="0.0" upper="1.5707963267948966" />
  </joint>
  <joint name="lower_right_cabinet_1.003_0.958_0.998_1_origin_joint" type="fixed">
    <parent link="lower_right_cabinet_1.003_0.958_0.998_1" />
    <child link="lower_right_cabinet_1.003_0.958_0.998_1_corpus" />
    <origin xyz="0.0 0.0 0.0" rpy="0.0 -0.0 0.0" />
  </joint>
  <joint name="drawer_0.333_0.958_0.998_4_world_fixed_joint" type="fixed">
    <parent link="world" />
    <child link="drawer_0.333_0.958_0.998_4" />
    <origin xyz="3.8520000000000003 -0.9779999999999999 0.0" rpy="0.0 -0.0 -1.5707963267948966" />
  </joint>
  <joint name="drawer_0.333_0.958_0.998_4_corpus_to_drawer_0_0" type="prismatic">
    <parent link="drawer_0.333_0.958_0.998_4_corpus" />
    <child link="drawer_0.333_0.958_0.998_4_drawer_0_0" />
    <origin xyz="0.0 -0.479 0.16649999999999998" rpy="0.0 -0.0 0.0" />
    <axis xyz="0 -1 0" />
    <limit effort="1000.0" velocity="1.0" lower="0.0" upper="0.79218" />
  </joint>
  <joint name="drawer_0.333_0.958_0.998_4_origin_joint" type="fixed">
    <parent link="drawer_0.333_0.958_0.998_4" />
    <child link="drawer_0.333_0.958_0.998_4_corpus" />
    <origin xyz="0.0 0.0 0.0" rpy="0.0 -0.0 0.0" />
  </joint>
  <joint name="drawer_0.333_0.958_0.998_5_world_fixed_joint" type="fixed">
    <parent link="world" />
    <child link="drawer_0.333_0.958_0.998_5" />
    <origin xyz="3.852 -1.936 0.0" rpy="0.0 -0.0 -1.5707963267948966" />
  </joint>
  <joint name="drawer_0.333_0.958_0.998_5_corpus_to_drawer_0_0" type="prismatic">
    <parent link="drawer_0.333_0.958_0.998_5_corpus" />
    <child link="drawer_0.333_0.958_0.998_5_drawer_0_0" />
    <origin xyz="0.0 -0.479 0.16649999999999998" rpy="0.0 -0.0 0.0" />
    <axis xyz="0 -1 0" />
    <limit effort="1000.0" velocity="1.0" lower="0.0" upper="0.79218" />
  </joint>
  <joint name="drawer_0.333_0.958_0.998_5_origin_joint" type="fixed">
    <parent link="drawer_0.333_0.958_0.998_5" />
    <child link="drawer_0.333_0.958_0.998_5_corpus" />
    <origin xyz="0.0 0.0 0.0" rpy="0.0 -0.0 0.0" />
  </joint>
  <joint name="lower_left_cabinet_1.003_0.958_0.998_2_world_fixed_joint" type="fixed">
    <parent link="world" />
    <child link="lower_left_cabinet_1.003_0.958_0.998_2" />
    <origin xyz="3.852 -1.936 -1.003" rpy="0.0 -0.0 -1.5707963267948966" />
  </joint>
  <joint name="lower_left_cabinet_1.003_0.958_0.998_2_corpus_to_door_0_0" type="revolute">
    <parent link="lower_left_cabinet_1.003_0.958_0.998_2_corpus" />
    <child link="lower_left_cabinet_1.003_0.958_0.998_2_door_0_0" />
    <origin xyz="0.477 -0.499 0.5015" rpy="0.0 -0.0 0.0" />
    <axis xyz="0 0 1" />
    <limit effort="1000.0" velocity="0.1" lower="0.0" upper="1.5707963267948966" />
  </joint>
  <joint name="lower_left_cabinet_1.003_0.958_0.998_2_origin_joint" type="fixed">
    <parent link="lower_left_cabinet_1.003_0.958_0.998_2" />
    <child link="lower_left_cabinet_1.003_0.958_0.998_2_corpus" />
    <origin xyz="0.0 0.0 0.0" rpy="0.0 -0.0 0.0" />
  </joint>
  <joint name="lower_right_cabinet_1.003_0.958_0.998_2_world_fixed_joint" type="fixed">
    <parent link="world" />
    <child link="lower_right_cabinet_1.003_0.958_0.998_2" />
    <origin xyz="3.852 -0.9779999999999999 -1.003" rpy="0.0 -0.0 -1.5707963267948966" />
  </joint>
  <joint name="lower_right_cabinet_1.003_0.958_0.998_2_corpus_to_door_0_0" type="revolute">
    <parent link="lower_right_cabinet_1.003_0.958_0.998_2_corpus" />
    <child link="lower_right_cabinet_1.003_0.958_0.998_2_door_0_0" />
    <origin xyz="-0.477 -0.499 0.5015" rpy="0.0 -0.0 0.0" />
    <axis xyz="0 0 -1" />
    <limit effort="1000.0" velocity="0.1" lower="0.0" upper="1.5707963267948966" />
  </joint>
  <joint name="lower_right_cabinet_1.003_0.958_0.998_2_origin_joint" type="fixed">
    <parent link="lower_right_cabinet_1.003_0.958_0.998_2" />
    <child link="lower_right_cabinet_1.003_0.958_0.998_2_corpus" />
    <origin xyz="0.0 0.0 0.0" rpy="0.0 -0.0 0.0" />
  </joint>
  <joint name="upper_left_cabinet_1.003_0.958_0.65_0_world_fixed_joint" type="fixed">
    <parent link="world" />
    <child link="upper_left_cabinet_1.003_0.958_0.65_0" />
    <origin xyz="2.874 0.174 1.233" rpy="0.0 -0.0 0.0" />
  </joint>
  <joint name="upper_left_cabinet_1.003_0.958_0.65_0_corpus_to_door_0_0" type="revolute">
    <parent link="upper_left_cabinet_1.003_0.958_0.65_0_corpus" />
    <child link="upper_left_cabinet_1.003_0.958_0.65_0_door_0_0" />
    <origin xyz="0.478 -0.325 1.0515000000000003" rpy="0.0 -0.0 0.0" />
    <axis xyz="0 0 1" />
    <limit effort="1000.0" velocity="0.1" lower="0.0" upper="1.5707963267948966" />
  </joint>
  <joint name="upper_left_cabinet_1.003_0.958_0.65_0_origin_joint" type="fixed">
    <parent link="upper_left_cabinet_1.003_0.958_0.65_0" />
    <child link="upper_left_cabinet_1.003_0.958_0.65_0_corpus" />
    <origin xyz="0.0 0.0 0.0" rpy="0.0 -0.0 0.0" />
  </joint>
  <joint name="upper_right_cabinet_1.003_0.958_0.65_0_world_fixed_joint" type="fixed">
    <parent link="world" />
    <child link="upper_right_cabinet_1.003_0.958_0.65_0" />
    <origin xyz="1.916 0.174 1.2330000000000003" rpy="0.0 -0.0 0.0" />
  </joint>
  <joint name="upper_right_cabinet_1.003_0.958_0.65_0_corpus_to_door_0_0" type="revolute">
    <parent link="upper_right_cabinet_1.003_0.958_0.65_0_corpus" />
    <child link="upper_right_cabinet_1.003_0.958_0.65_0_door_0_0" />
    <origin xyz="-0.478 -0.325 1.0515000000000003" rpy="0.0 -0.0 0.0" />
    <axis xyz="0 0 -1" />
    <limit effort="1000.0" velocity="0.1" lower="0.0" upper="1.5707963267948966" />
  </joint>
  <joint name="upper_right_cabinet_1.003_0.958_0.65_0_origin_joint" type="fixed">
    <parent link="upper_right_cabinet_1.003_0.958_0.65_0" />
    <child link="upper_right_cabinet_1.003_0.958_0.65_0_corpus" />
    <origin xyz="0.0 0.0 0.0" rpy="0.0 -0.0 0.0" />
  </joint>
  <joint name="upper_left_cabinet_1.003_0.958_0.65_1_world_fixed_joint" type="fixed">
    <parent link="world" />
    <child link="upper_left_cabinet_1.003_0.958_0.65_1" />
    <origin xyz="0.9579999999999999 0.174 1.2330000000000003" rpy="0.0 -0.0 0.0" />
  </joint>
  <joint name="upper_left_cabinet_1.003_0.958_0.65_1_corpus_to_door_0_0" type="revolute">
    <parent link="upper_left_cabinet_1.003_0.958_0.65_1_corpus" />
    <child link="upper_left_cabinet_1.003_0.958_0.65_1_door_0_0" />
    <origin xyz="0.478 -0.325 1.0515000000000003" rpy="0.0 -0.0 0.0" />
    <axis xyz="0 0 1" />
    <limit effort="1000.0" velocity="0.1" lower="0.0" upper="1.5707963267948966" />
  </joint>
  <joint name="upper_left_cabinet_1.003_0.958_0.65_1_origin_joint" type="fixed">
    <parent link="upper_left_cabinet_1.003_0.958_0.65_1" />
    <child link="upper_left_cabinet_1.003_0.958_0.65_1_corpus" />
    <origin xyz="0.0 0.0 0.0" rpy="0.0 -0.0 0.0" />
  </joint>
  <joint name="upper_right_cabinet_1.003_0.958_0.65_1_world_fixed_joint" type="fixed">
    <parent link="world" />
    <child link="upper_right_cabinet_1.003_0.958_0.65_1" />
    <origin xyz="-1.1102230246251565e-16 0.174 1.2330000000000003" rpy="0.0 -0.0 0.0" />
  </joint>
  <joint name="upper_right_cabinet_1.003_0.958_0.65_1_corpus_to_door_0_0" type="revolute">
    <parent link="upper_right_cabinet_1.003_0.958_0.65_1_corpus" />
    <child link="upper_right_cabinet_1.003_0.958_0.65_1_door_0_0" />
    <origin xyz="-0.478 -0.325 1.0515000000000003" rpy="0.0 -0.0 0.0" />
    <axis xyz="0 0 -1" />
    <limit effort="1000.0" velocity="0.1" lower="0.0" upper="1.5707963267948966" />
  </joint>
  <joint name="upper_right_cabinet_1.003_0.958_0.65_1_origin_joint" type="fixed">
    <parent link="upper_right_cabinet_1.003_0.958_0.65_1" />
    <child link="upper_right_cabinet_1.003_0.958_0.65_1_corpus" />
    <origin xyz="0.0 0.0 0.0" rpy="0.0 -0.0 0.0" />
  </joint>
  <joint name="upper_left_cabinet_1.003_0.958_0.65_2_world_fixed_joint" type="fixed">
    <parent link="world" />
    <child link="upper_left_cabinet_1.003_0.958_0.65_2" />
    <origin xyz="-0.9580000000000001 0.174 1.2330000000000003" rpy="0.0 -0.0 0.0" />
  </joint>
  <joint name="upper_left_cabinet_1.003_0.958_0.65_2_corpus_to_door_0_0" type="revolute">
    <parent link="upper_left_cabinet_1.003_0.958_0.65_2_corpus" />
    <child link="upper_left_cabinet_1.003_0.958_0.65_2_door_0_0" />
    <origin xyz="0.478 -0.325 1.0515000000000003" rpy="0.0 -0.0 0.0" />
    <axis xyz="0 0 1" />
    <limit effort="1000.0" velocity="0.1" lower="0.0" upper="1.5707963267948966" />
  </joint>
  <joint name="upper_left_cabinet_1.003_0.958_0.65_2_origin_joint" type="fixed">
    <parent link="upper_left_cabinet_1.003_0.958_0.65_2" />
    <child link="upper_left_cabinet_1.003_0.958_0.65_2_corpus" />
    <origin xyz="0.0 0.0 0.0" rpy="0.0 -0.0 0.0" />
  </joint>
  <joint name="upper_right_cabinet_1.003_0.958_0.65_2_world_fixed_joint" type="fixed">
    <parent link="world" />
    <child link="upper_right_cabinet_1.003_0.958_0.65_2" />
    <origin xyz="-1.916 0.174 1.2330000000000003" rpy="0.0 -0.0 0.0" />
  </joint>
  <joint name="upper_right_cabinet_1.003_0.958_0.65_2_corpus_to_door_0_0" type="revolute">
    <parent link="upper_right_cabinet_1.003_0.958_0.65_2_corpus" />
    <child link="upper_right_cabinet_1.003_0.958_0.65_2_door_0_0" />
    <origin xyz="-0.478 -0.325 1.0515000000000003" rpy="0.0 -0.0 0.0" />
    <axis xyz="0 0 -1" />
    <limit effort="1000.0" velocity="0.1" lower="0.0" upper="1.5707963267948966" />
  </joint>
  <joint name="upper_right_cabinet_1.003_0.958_0.65_2_origin_joint" type="fixed">
    <parent link="upper_right_cabinet_1.003_0.958_0.65_2" />
    <child link="upper_right_cabinet_1.003_0.958_0.65_2_corpus" />
    <origin xyz="0.0 0.0 0.0" rpy="0.0 -0.0 0.0" />
  </joint>
  <joint name="upper_left_cabinet_1.003_0.958_0.65_3_world_fixed_joint" type="fixed">
    <parent link="world" />
    <child link="upper_left_cabinet_1.003_0.958_0.65_3" />
    <origin xyz="4.026 -1.936 1.233" rpy="0.0 -0.0 -1.5707963267948966" />
  </joint>
  <joint name="upper_left_cabinet_1.003_0.958_0.65_3_corpus_to_door_0_0" type="revolute">
    <parent link="upper_left_cabinet_1.003_0.958_0.65_3_corpus" />
    <child link="upper_left_cabinet_1.003_0.958_0.65_3_door_0_0" />
    <origin xyz="0.478 -0.325 1.0515000000000003" rpy="0.0 -0.0 0.0" />
    <axis xyz="0 0 1" />
    <limit effort="1000.0" velocity="0.1" lower="0.0" upper="1.5707963267948966" />
  </joint>
  <joint name="upper_left_cabinet_1.003_0.958_0.65_3_origin_joint" type="fixed">
    <parent link="upper_left_cabinet_1.003_0.958_0.65_3" />
    <child link="upper_left_cabinet_1.003_0.958_0.65_3_corpus" />
    <origin xyz="0.0 0.0 0.0" rpy="0.0 -0.0 0.0" />
  </joint>
  <joint name="upper_right_cabinet_1.003_0.958_0.65_3_world_fixed_joint" type="fixed">
    <parent link="world" />
    <child link="upper_right_cabinet_1.003_0.958_0.65_3" />
    <origin xyz="4.026 -0.9779999999999999 1.2330000000000003" rpy="0.0 -0.0 -1.5707963267948966" />
  </joint>
  <joint name="upper_right_cabinet_1.003_0.958_0.65_3_corpus_to_door_0_0" type="revolute">
    <parent link="upper_right_cabinet_1.003_0.958_0.65_3_corpus" />
    <child link="upper_right_cabinet_1.003_0.958_0.65_3_door_0_0" />
    <origin xyz="-0.478 -0.325 1.0515000000000003" rpy="0.0 -0.0 0.0" />
    <axis xyz="0 0 -1" />
    <limit effort="1000.0" velocity="0.1" lower="0.0" upper="1.5707963267948966" />
  </joint>
  <joint name="upper_right_cabinet_1.003_0.958_0.65_3_origin_joint" type="fixed">
    <parent link="upper_right_cabinet_1.003_0.958_0.65_3" />
    <child link="upper_right_cabinet_1.003_0.958_0.65_3_corpus" />
    <origin xyz="0.0 0.0 0.0" rpy="0.0 -0.0 0.0" />
  </joint>
  <joint name="double_drawer_0.611_1.916_0.998_world_fixed_joint" type="fixed">
    <parent link="world" />
    <child link="double_drawer_0.611_1.916_0.998" />
    <origin xyz="-1.4369999999999998 0.0 -1.003" rpy="0.0 -0.0 0.0" />
  </joint>
  <joint name="double_drawer_0.611_1.916_0.998_corpus_to_drawer_0_0" type="prismatic">
    <parent link="double_drawer_0.611_1.916_0.998_corpus" />
    <child link="double_drawer_0.611_1.916_0.998_drawer_0_0" />
    <origin xyz="0.0 -0.479 0.3055" rpy="0.0 -0.0 0.0" />
    <axis xyz="0 -1 0" />
    <limit effort="1000.0" velocity="1.0" lower="0.0" upper="0.79218" />
  </joint>
  <joint name="double_drawer_0.611_1.916_0.998_origin_joint" type="fixed">
    <parent link="double_drawer_0.611_1.916_0.998" />
    <child link="double_drawer_0.611_1.916_0.998_corpus" />
    <origin xyz="0.0 0.0 0.0" rpy="0.0 -0.0 0.0" />
  </joint>
</robot>
